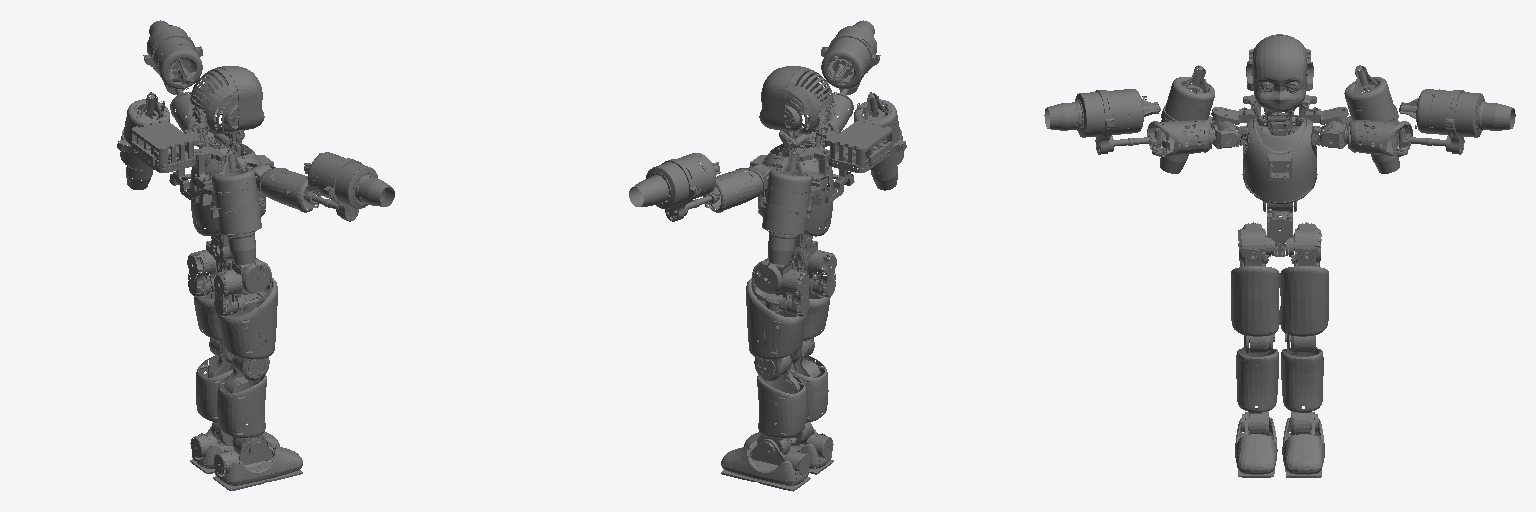
--- What the picture shows (computed from the rendered views, not written in the file) ---
The picture shows the robot from 3 angles, left to right: view 1: azimuth 30°, elevation 25°; view 2: azimuth 150°, elevation 25°; view 3: azimuth 270°, elevation 25°; orthographic projection.
Robot: iCub — 61 links, 60 joints (26 revolute, 34 fixed); root link root_link; default pose: all joints at 0 but 2 set to mid-range because 0 is outside their limits (r_shoulder_roll = 1.53, l_shoulder_roll = 1.53).
Links seen in each view (by area): view 1: chest_jetpack, head, chest_r_jet_turbine, r_lower_leg, r_arm_jet_turbine, r_hip_3, l_arm_jet_turbine, r_ankle_2, chest_l_jet_turbine, l_lower_leg, chest, r_upper_arm (+9 smaller); view 2: chest_jetpack, head, chest_l_jet_turbine, l_lower_leg, l_arm_jet_turbine, l_hip_3, r_arm_jet_turbine, l_ankle_2, chest_r_jet_turbine, r_lower_leg, chest, l_upper_arm (+9 smaller); view 3: chest, head, l_arm_jet_turbine, r_arm_jet_turbine, l_hip_3, r_hip_3, l_lower_leg, r_lower_leg, chest_l_jet_turbine, chest_r_jet_turbine, r_upper_arm, l_upper_arm (+8 smaller).
Link boxes in pixels (x1,y1,x2,y2): chest_jetpack: (131,120,234,205); head: (188,66,264,133); chest_r_jet_turbine: (210,150,264,264); r_lower_leg: (217,355,267,457); r_arm_jet_turbine: (304,152,394,208); r_hip_3: (217,278,277,359); l_arm_jet_turbine: (147,20,202,89); r_ankle_2: (214,440,302,485); chest_l_jet_turbine: (117,92,169,189); l_lower_leg: (196,339,242,445); chest: (190,139,273,235); r_upper_arm: (259,168,318,212); chest_jetpack: (790,120,892,205); head: (759,66,835,133); chest_l_jet_turbine: (759,151,813,264); l_lower_leg: (757,355,806,454); l_arm_jet_turbine: (629,153,720,208); l_hip_3: (746,278,806,359); r_arm_jet_turbine: (821,20,876,88); l_ankle_2: (721,441,809,485); chest_r_jet_turbine: (854,92,906,190); r_lower_leg: (786,339,828,445); chest: (750,139,833,236); l_upper_arm: (705,168,764,212); chest: (1242,115,1317,203); head: (1246,34,1313,111); l_arm_jet_turbine: (1399,89,1515,137); r_arm_jet_turbine: (1044,89,1160,137); l_hip_3: (1280,266,1328,336); r_hip_3: (1231,266,1279,336); l_lower_leg: (1281,335,1323,435); r_lower_leg: (1236,335,1278,435); chest_l_jet_turbine: (1339,65,1399,173); chest_r_jet_turbine: (1160,65,1218,173); r_upper_arm: (1147,119,1212,156); l_upper_arm: (1347,119,1412,156).
Size in the robot's own frame: 0.4689 by 1.29 by 1.24 metres.
Meshes: 41 distinct files referenced, 41 mesh visuals loaded (41 OBJ).

The robot description file, URDF, robot "iCub":
<?xml version="1.0"?>
<robot name="iCub">
  <link name="root_link">
    <inertial>
      <mass value="2.6629877504874604"/>
      <origin xyz="0.0035506047153235866 -1.495920436742083e-4 0.024519005956610603" rpy="0 -0 0"/>
      <inertia ixx="0.004618821158702131" ixy="2.1225922968713773e-6" ixz="1.2101663560375619e-4" iyy="0.0041897728838428076" iyz="1.2411456346931601e-5" izz="0.0026241207587260743"/>
    </inertial>
    <visual>
      <origin xyz="0 0 0" rpy="0 -0 0"/>
      <geometry>
        <mesh filename="package://iRonCub-Mk3/iRonCub/meshes/obj/sim_icub3_root_link.obj" scale="0.001 0.001 0.001"/>
      </geometry>
      <material name="">
        <color rgba="0.5 0.5 0.5 1"/>
      </material>
    </visual>
    <collision>
      <origin xyz="0 0 0" rpy="0 -0 0"/>
      <geometry>
        <mesh filename="package://iRonCub-Mk3/iRonCub/meshes/obj/sim_icub3_root_link.obj" scale="0.001 0.001 0.001"/>
      </geometry>
      <material name="">
        <color rgba="0.5 0.5 0.5 1"/>
      </material>
    </collision>
  </link>
  <joint name="l_hip_pitch" type="revolute">
    <origin xyz="0.021599999999999838 0.0404500000000001 5.551115123125783e-17" rpy="-2.772152493573635e-17 3.287426415778874e-15 -2.9480469897414543e-16"/>
    <axis xyz="2.621035289673297e-16 -1 -2.7721621189479363e-17"/>
    <parent link="root_link"/>
    <child link="l_hip_1"/>
    <limit lower="-0.7853981633974483" upper="2.007128639793479" effort="1e+9" velocity="1e+9"/>
    <dynamics damping="2" friction="0"/>
  </joint>
  <link name="l_hip_1">
    <inertial>
      <mass value="2.2348449454352943"/>
      <origin xyz="-0.004074069440706474 0.028123280846168733 -7.243260242532079e-4" rpy="0 -0 0"/>
      <inertia ixx="0.0021916451360404444" ixy="6.47725598985244e-5" ixz="-1.3159623138316396e-5" iyy="0.0026839116171697534" iyz="-2.8677556023102584e-6" izz="0.0024425758894069567"/>
    </inertial>
    <visual>
      <origin xyz="0 0 0" rpy="0 -0 0"/>
      <geometry>
        <mesh filename="package://iRonCub-Mk3/iRonCub/meshes/obj/sim_icub3_l_hip_1.obj" scale="0.001 0.001 0.001"/>
      </geometry>
      <material name="">
        <color rgba="0.5 0.5 0.5 1"/>
      </material>
    </visual>
    <collision>
      <origin xyz="0 0 0" rpy="0 -0 0"/>
      <geometry>
        <mesh filename="package://iRonCub-Mk3/iRonCub/meshes/obj/sim_icub3_l_hip_1.obj" scale="0.001 0.001 0.001"/>
      </geometry>
      <material name="">
        <color rgba="0.5 0.5 0.5 1"/>
      </material>
    </collision>
  </link>
  <joint name="r_hip_pitch" type="revolute">
    <origin xyz="0.021599999999999755 -0.040549999999999864 1.6653345369377348e-16" rpy="-1.110561606349201e-16 5.28941969589271e-15 8.233098219243898e-17"/>
    <axis xyz="-2.5657452984070894e-16 -1 -1.1105625688866552e-16"/>
    <parent link="root_link"/>
    <child link="r_hip_1"/>
    <limit lower="-0.7853981633974483" upper="2.007128639793479" effort="1e+9" velocity="1e+9"/>
    <dynamics damping="2" friction="0"/>
  </joint>
  <link name="r_hip_1">
    <inertial>
      <mass value="2.236088342871916"/>
      <origin xyz="-0.004106487245625876 -0.028109839642556263 -8.358564041556216e-4" rpy="0 -0 0"/>
      <inertia ixx="0.002274050572883787" ixy="-6.646311453920132e-5" ixz="-1.6231225606391436e-5" iyy="0.002767314809687873" iyz="6.667480643867252e-6" izz="0.0024473940588690597"/>
    </inertial>
    <visual>
      <origin xyz="0 0 0" rpy="0 -0 0"/>
      <geometry>
        <mesh filename="package://iRonCub-Mk3/iRonCub/meshes/obj/sim_icub3_r_hip_1.obj" scale="0.001 0.001 0.001"/>
      </geometry>
      <material name="">
        <color rgba="0.5 0.5 0.5 1"/>
      </material>
    </visual>
    <collision>
      <origin xyz="0 0 0" rpy="0 -0 0"/>
      <geometry>
        <mesh filename="package://iRonCub-Mk3/iRonCub/meshes/obj/sim_icub3_r_hip_1.obj" scale="0.001 0.001 0.001"/>
      </geometry>
      <material name="">
        <color rgba="0.5 0.5 0.5 1"/>
      </material>
    </collision>
  </link>
  <joint name="torso_roll" type="revolute">
    <origin xyz="-3.026147803572561e-17 -4.999999999994841e-5 0.060500000000000054" rpy="-1.3601050333223173e-31 -5.551115123125783e-16 1.0865009219729226e-20"/>
    <axis xyz="-1 1.339518362819463e-16 1.2577495698321518e-15"/>
    <parent link="root_link"/>
    <child link="torso_1"/>
    <limit lower="-0.4014257279586958" upper="0.4014257279586958" effort="1e+9" velocity="1e+9"/>
    <dynamics damping="2" friction="0"/>
  </joint>
  <link name="torso_1">
    <inertial>
      <mass value="1.7568435600410703"/>
      <origin xyz="-0.008004199855839647 3.5130276364068173e-4 0.05194481095906714" rpy="0 -0 0"/>
      <inertia ixx="0.002704001065354341" ixy="-1.132401714304464e-6" ixz="-3.328239693456031e-4" iyy="0.0035179814878016314" iyz="4.672304187426514e-6" izz="0.0021296132468488324"/>
    </inertial>
    <visual>
      <origin xyz="0 0 0" rpy="0 -0 0"/>
      <geometry>
        <mesh filename="package://iRonCub-Mk3/iRonCub/meshes/obj/sim_icub3_torso_1.obj" scale="0.001 0.001 0.001"/>
      </geometry>
      <material name="">
        <color rgba="0.5 0.5 0.5 1"/>
      </material>
    </visual>
    <collision>
      <origin xyz="0 0 0" rpy="0 -0 0"/>
      <geometry>
        <mesh filename="package://iRonCub-Mk3/iRonCub/meshes/obj/sim_icub3_torso_1.obj" scale="0.001 0.001 0.001"/>
      </geometry>
      <material name="">
        <color rgba="0.5 0.5 0.5 1"/>
      </material>
    </collision>
  </link>
  <joint name="torso_pitch" type="revolute">
    <origin xyz="-6.67283601706106e-18 4.999999999996938e-5 0.07250000000000004" rpy="1.1102239871625957e-16 -3.3306690738754686e-16 -2.4501412044503564e-16"/>
    <axis xyz="-1.1102155323940791e-16 1 5.872997965345691e-16"/>
    <parent link="torso_1"/>
    <child link="torso_2"/>
    <limit lower="-0.3141592653589793" upper="0.7853981633974483" effort="1e+9" velocity="1e+9"/>
    <dynamics damping="2" friction="0"/>
  </joint>
  <link name="torso_2">
    <inertial>
      <mass value="0.7973007881979116"/>
      <origin xyz="0.0013193526698886456 0.0033219209736745463 0.026808073537901152" rpy="0 -0 0"/>
      <inertia ixx="0.0015101133308138724" ixy="3.6652548120564313e-6" ixz="-1.1177457987947623e-5" iyy="8.38212922542086e-4" iyz="7.46112208314757e-5" izz="0.001252038772346624"/>
    </inertial>
    <visual>
      <origin xyz="0 0 0" rpy="0 -0 0"/>
      <geometry>
        <mesh filename="package://iRonCub-Mk3/iRonCub/meshes/obj/sim_icub3_torso_2.obj" scale="0.001 0.001 0.001"/>
      </geometry>
      <material name="">
        <color rgba="0.5 0.5 0.5 1"/>
      </material>
    </visual>
    <collision>
      <origin xyz="0 0 0" rpy="0 -0 0"/>
      <geometry>
        <mesh filename="package://iRonCub-Mk3/iRonCub/meshes/obj/sim_icub3_torso_2.obj" scale="0.001 0.001 0.001"/>
      </geometry>
      <material name="">
        <color rgba="0.5 0.5 0.5 1"/>
      </material>
    </collision>
  </link>
  <joint name="torso_yaw" type="revolute">
    <origin xyz="2.1594264454155578e-17 5.885646208236616e-20 0.06446999999999999" rpy="-1.2321137764617832e-22 -1.1102242644158516e-16 -1.1102291848647704e-16"/>
    <axis xyz="-1.1101976037066927e-16 -5.988494954094898e-22 -1"/>
    <parent link="torso_2"/>
    <child link="chest"/>
    <limit lower="-0.7504915783575618" upper="0.7504915783575618" effort="1e+9" velocity="1e+9"/>
    <dynamics damping="2" friction="0"/>
  </joint>
  <link name="chest">
    <inertial>
      <mass value="7.3512"/>
      <origin xyz="-0.0122642676781385 -2.0913721363379232e-4 0.06226272346884485" rpy="0 -0 0"/>
      <inertia ixx="0.035385363760700186" ixy="1.013992893017689e-4" ixz="-3.314932732026085e-5" iyy="0.029180876419389323" iyz="-1.1584760630466694e-4" izz="0.026523881613475565"/>
    </inertial>
    <visual>
      <origin xyz="0 0 0" rpy="0 -0 0"/>
      <geometry>
        <mesh filename="package://iRonCub-Mk3/iRonCub/meshes/obj/sim_icub3_chest.obj" scale="0.001 0.001 0.001"/>
      </geometry>
      <material name="">
        <color rgba="0.5 0.5 0.5 1"/>
      </material>
    </visual>
    <collision>
      <origin xyz="0 0 0" rpy="0 -0 0"/>
      <geometry>
        <mesh filename="package://iRonCub-Mk3/iRonCub/meshes/obj/sim_icub3_chest.obj" scale="0.001 0.001 0.001"/>
      </geometry>
      <material name="">
        <color rgba="0.5 0.5 0.5 1"/>
      </material>
    </collision>
  </link>
  <joint name="neck_fixed_joint" type="fixed">
    <origin xyz="-0.0037884876520276793 1.1965149394276545e-19 0.1653" rpy="9.625374400280887e-23 -1.2324731707866316e-32 0"/>
    <parent link="chest"/>
    <child link="neck_1"/>
  </joint>
  <link name="neck_1">
    <inertial>
      <mass value="0.36603901400113703"/>
      <origin xyz="-0.0020740120862148275 3.5078633042914743e-4 0.031440537702076166" rpy="0 -0 0"/>
      <inertia ixx="2.874394158609982e-4" ixy="1.4976245677733992e-5" ixz="-5.678672052682316e-6" iyy="1.779437729417396e-4" iyz="-8.84609090159286e-6" izz="2.707162209259165e-4"/>
    </inertial>
    <visual>
      <origin xyz="0 0 0" rpy="0 -0 0"/>
      <geometry>
        <mesh filename="package://iRonCub-Mk3/iRonCub/meshes/obj/sim_head_neck_1.obj" scale="0.001 0.001 0.001"/>
      </geometry>
      <material name="">
        <color rgba="0.5 0.5 0.5 1"/>
      </material>
    </visual>
    <collision>
      <origin xyz="0 0 0" rpy="0 -0 0"/>
      <geometry>
        <mesh filename="package://iRonCub-Mk3/iRonCub/meshes/obj/sim_head_neck_1.obj" scale="0.001 0.001 0.001"/>
      </geometry>
      <material name="">
        <color rgba="0.5 0.5 0.5 1"/>
      </material>
    </collision>
  </link>
  <joint name="l_shoulder_pitch" type="revolute">
    <origin xyz="-0.020835110809513314 0.03974230787756868 0.10520337684251443" rpy="0.2532615634587303 1.1174434452692061e-10 -0.2617993877702263"/>
    <axis xyz="1.263954599823144e-16 1.0000000000000002 8.326672684688674e-17"/>
    <parent link="chest"/>
    <child link="l_shoulder_1"/>
    <limit lower="-3.0543261909900767" upper="0.3490658503988659" effort="1e+9" velocity="1e+9"/>
    <dynamics damping="2" friction="0"/>
  </joint>
  <link name="l_shoulder_1">
    <inertial>
      <mass value="0.8132882020978611"/>
      <origin xyz="1.6763217616769938e-4 0.08722563487559233 4.5089836424971885e-4" rpy="0 -0 0"/>
      <inertia ixx="0.01" ixy="0" ixz="0" iyy="0.01" iyz="0" izz="0.01"/>
    </inertial>
    <visual>
      <origin xyz="0 0 0" rpy="0 -0 0"/>
      <geometry>
        <mesh filename="package://iRonCub-Mk3/iRonCub/meshes/obj/sim_icub3_l_shoulder_1.obj" scale="0.001 0.001 0.001"/>
      </geometry>
      <material name="">
        <color rgba="0.5 0.5 0.5 1"/>
      </material>
    </visual>
    <collision>
      <origin xyz="0 0 0" rpy="0 -0 0"/>
      <geometry>
        <mesh filename="package://iRonCub-Mk3/iRonCub/meshes/obj/sim_icub3_l_shoulder_1.obj" scale="0.001 0.001 0.001"/>
      </geometry>
      <material name="">
        <color rgba="0.5 0.5 0.5 1"/>
      </material>
    </collision>
  </link>
  <joint name="r_shoulder_pitch" type="revolute">
    <origin xyz="-0.020835110809513314 -0.039742307877568765 0.10520337684251439" rpy="-0.2532615634587295 -1.8146566163866544e-16 0.2617993877991491"/>
    <axis xyz="9.330933250829091e-17 1.0000000000000002 -1.3877787807814457e-16"/>
    <parent link="chest"/>
    <child link="r_shoulder_1"/>
    <limit lower="-3.0543261909900767" upper="0.3490658503988659" effort="1e+9" velocity="1e+9"/>
    <dynamics damping="2" friction="0"/>
  </joint>
  <link name="r_shoulder_1">
    <inertial>
      <mass value="0.813839698711106"/>
      <origin xyz="1.6751126444148473e-4 -0.08721732535454527 4.507358666717004e-4" rpy="0 -0 0"/>
      <inertia ixx="0.009999999999999998" ixy="0" ixz="0" iyy="0.01" iyz="0" izz="0.009999999999999998"/>
    </inertial>
    <visual>
      <origin xyz="0 0 0" rpy="0 -0 0"/>
      <geometry>
        <mesh filename="package://iRonCub-Mk3/iRonCub/meshes/obj/sim_icub3_r_shoulder_1.obj" scale="0.001 0.001 0.001"/>
      </geometry>
      <material name="">
        <color rgba="0.5 0.5 0.5 1"/>
      </material>
    </visual>
    <collision>
      <origin xyz="0 0 0" rpy="0 -0 0"/>
      <geometry>
        <mesh filename="package://iRonCub-Mk3/iRonCub/meshes/obj/sim_icub3_r_shoulder_1.obj" scale="0.001 0.001 0.001"/>
      </geometry>
      <material name="">
        <color rgba="0.5 0.5 0.5 1"/>
      </material>
    </collision>
  </link>
  <joint name="jetpack" type="fixed">
    <origin xyz="-0.14499 -1.2999999999999988e-4 0.14541848765202772" rpy="1.2324731707866316e-32 9.625374400280887e-23 -1.5707963267948966"/>
    <parent link="chest"/>
    <child link="chest_jetpack"/>
  </joint>
  <link name="chest_jetpack">
    <inertial>
      <mass value="4.53"/>
      <origin xyz="-2.7239450875089056e-5 -0.0183358897647658 0.03425005290417793" rpy="0 -0 0"/>
      <inertia ixx="0.03167862147049015" ixy="2.2387098838732457e-5" ixz="-1.8898492015038172e-5" iyy="0.04284692384150374" iyz="0.009152748442320655" izz="0.04386588919109599"/>
    </inertial>
    <visual>
      <origin xyz="0 0 0" rpy="0 -0 0"/>
      <geometry>
        <mesh filename="package://iRonCub-Mk3/iRonCub/meshes/obj/sim_sea_3_jetpack.obj" scale="0.001 0.001 0.001"/>
      </geometry>
      <material name="">
        <color rgba="0.5 0.5 0.5 1"/>
      </material>
    </visual>
    <collision>
      <origin xyz="0 0 0" rpy="0 -0 0"/>
      <geometry>
        <mesh filename="package://iRonCub-Mk3/iRonCub/meshes/obj/sim_sea_3_jetpack.obj" scale="0.001 0.001 0.001"/>
      </geometry>
      <material name="">
        <color rgba="0.5 0.5 0.5 1"/>
      </material>
    </collision>
  </link>
  <joint name="l_jet_ft_sensor" type="fixed">
    <origin xyz="-0.29983115371327507 0.015279475722973251 -0.17995519310613678" rpy="-2.879793265790644 -4.1835689553950905e-16 1.5707963267948966"/>
    <parent link="chest_jetpack"/>
    <child link="chest_l_jet_turbine"/>
  </joint>
  <link name="chest_l_jet_turbine">
    <inertial>
      <mass value="2.485121044142475"/>
      <origin xyz="-1.2021870482992192e-6 0.006989391668813405 -0.15859756054561458" rpy="0 -0 0"/>
      <inertia ixx="0.00995696120949495" ixy="9.121988679390884e-6" ixz="1.2765757408929822e-5" iyy="0.008873133869822553" iyz="-1.3408250367438063e-5" izz="0.0050950352814347205"/>
    </inertial>
    <visual>
      <origin xyz="0 0 0" rpy="0 -0 0"/>
      <geometry>
        <mesh filename="package://iRonCub-Mk3/iRonCub/meshes/obj/sim_sea_l_jet_turbine.obj" scale="0.001 0.001 0.001"/>
      </geometry>
      <material name="">
        <color rgba="0.5 0.5 0.5 1"/>
      </material>
    </visual>
    <collision>
      <origin xyz="0 0 0" rpy="0 -0 0"/>
      <geometry>
        <mesh filename="package://iRonCub-Mk3/iRonCub/meshes/obj/sim_sea_l_jet_turbine.obj" scale="0.001 0.001 0.001"/>
      </geometry>
      <material name="">
        <color rgba="0.5 0.5 0.5 1"/>
      </material>
    </collision>
  </link>
  <joint name="r_jet_ft_sensor" type="fixed">
    <origin xyz="0.3000540611713717 0.015279475722925928 -0.17982579844272073" rpy="2.879793265790644 -3.494213743063994e-16 1.5707963267948968"/>
    <parent link="chest_jetpack"/>
    <child link="chest_r_jet_turbine"/>
  </joint>
  <link name="chest_r_jet_turbine">
    <inertial>
      <mass value="2.485121044142475"/>
      <origin xyz="-1.202982383791129e-6 -0.007176625110538154 -0.15859756054561458" rpy="0 -0 0"/>
      <inertia ixx="0.009967969905614368" ixy="-1.0264559868435775e-6" ixz="1.2765689314859367e-5" iyy="0.008873133870962072" iyz="1.1248737016987531e-5" izz="0.005106043978693606"/>
    </inertial>
    <visual>
      <origin xyz="0 0 0" rpy="0 -0 0"/>
      <geometry>
        <mesh filename="package://iRonCub-Mk3/iRonCub/meshes/obj/sim_sea_r_jet_turbine.obj" scale="0.001 0.001 0.001"/>
      </geometry>
      <material name="">
        <color rgba="0.5 0.5 0.5 1"/>
      </material>
    </visual>
    <collision>
      <origin xyz="0 0 0" rpy="0 -0 0"/>
      <geometry>
        <mesh filename="package://iRonCub-Mk3/iRonCub/meshes/obj/sim_sea_r_jet_turbine.obj" scale="0.001 0.001 0.001"/>
      </geometry>
      <material name="">
        <color rgba="0.5 0.5 0.5 1"/>
      </material>
    </collision>
  </link>
  <joint name="r_shoulder_roll" type="revolute">
    <origin xyz="0.007489169544993426 -0.1115000000000005 4.029137951449893e-4" rpy="0.17453292519940572 -0.05374771349722806 -3.796894575208941e-14"/>
    <axis xyz="-1.0000000000000002 -1.2906342661267445e-15 -1.3322676295501878e-15"/>
    <parent link="r_shoulder_1"/>
    <child link="r_shoulder_2"/>
    <limit lower="0.20943951023931956" upper="2.8448866807507573" effort="1e+9" velocity="1e+9"/>
    <dynamics damping="2" friction="0"/>
  </joint>
  <link name="r_shoulder_2">
    <inertial>
      <mass value="0.4394303347087956"/>
      <origin xyz="0.00510875359504365 -2.132499365749274e-4 -0.02040339841293008" rpy="0 -0 0"/>
      <inertia ixx="0.01" ixy="0" ixz="0" iyy="0.01" iyz="0" izz="0.01"/>
    </inertial>
    <visual>
      <origin xyz="0 0 0" rpy="0 -0 0"/>
      <geometry>
        <mesh filename="package://iRonCub-Mk3/iRonCub/meshes/obj/sim_icub3_r_shoulder_2.obj" scale="0.001 0.001 0.001"/>
      </geometry>
      <material name="">
        <color rgba="0.5 0.5 0.5 1"/>
      </material>
    </visual>
    <collision>
      <origin xyz="0 0 0" rpy="0 -0 0"/>
      <geometry>
        <mesh filename="package://iRonCub-Mk3/iRonCub/meshes/obj/sim_icub3_r_shoulder_2.obj" scale="0.001 0.001 0.001"/>
      </geometry>
      <material name="">
        <color rgba="0.5 0.5 0.5 1"/>
      </material>
    </collision>
  </link>
  <joint name="r_arm_ft_sensor" type="fixed">
    <origin xyz="-0.0068499999999999985 0 -0.05429999999999999" rpy="-7.632783294297952e-17 -2.8449465006019636e-16 1.77635683940025e-15"/>
    <parent link="r_shoulder_2"/>
    <child link="r_shoulder_3"/>
  </joint>
  <link name="r_shoulder_3">
    <inertial>
      <mass value="0.27146627275996604"/>
      <origin xyz="-8.311677995866476e-5 -3.0654831449872244e-5 -0.007966545320293922" rpy="0 -0 0"/>
      <inertia ixx="0.01" ixy="0" ixz="0" iyy="0.01" iyz="0" izz="0.01"/>
    </inertial>
    <visual>
      <origin xyz="0 0 0" rpy="0 -0 0"/>
      <geometry>
        <mesh filename="package://iRonCub-Mk3/iRonCub/meshes/obj/sim_icub3_r_shoulder_3.obj" scale="0.001 0.001 0.001"/>
      </geometry>
      <material name="">
        <color rgba="0.5 0.5 0.5 1"/>
      </material>
    </visual>
    <collision>
      <origin xyz="0 0 0" rpy="0 -0 0"/>
      <geometry>
        <mesh filename="package://iRonCub-Mk3/iRonCub/meshes/obj/sim_icub3_r_shoulder_3.obj" scale="0.001 0.001 0.001"/>
      </geometry>
      <material name="">
        <color rgba="0.5 0.5 0.5 1"/>
      </material>
    </collision>
  </link>
  <joint name="r_shoulder_yaw" type="revolute">
    <origin xyz="-2.0816681711721685e-17 2.220446049250313e-16 -0.022500000000000034" rpy="-1.2712053631958017e-14 -6.501743587961073e-15 8.382183835919908e-15"/>
    <axis xyz="6.349087922075112e-15 -1.2850831510036185e-14 1.000000000000002"/>
    <parent link="r_shoulder_3"/>
    <child link="r_upper_arm"/>
    <limit lower="-0.8726646259971648" upper="1.3962634015954636" effort="1e+9" velocity="1e+9"/>
    <dynamics damping="2" friction="0"/>
  </joint>
  <link name="r_upper_arm">
    <inertial>
      <mass value="1.6772906895585853"/>
      <origin xyz="0.0010477411494388446 -0.0025592471121872735 -0.050652982369893636" rpy="0 -0 0"/>
      <inertia ixx="0.0029869197761717373" ixy="1.9760838161733013e-5" ixz="7.516752031618085e-5" iyy="0.003091158059685315" iyz="-1.155261578180163e-4" izz="0.001285657073633261"/>
    </inertial>
    <visual>
      <origin xyz="0 0 0" rpy="0 -0 0"/>
      <geometry>
        <mesh filename="package://iRonCub-Mk3/iRonCub/meshes/obj/sim_icub3_r_upperarm.obj" scale="0.001 0.001 0.001"/>
      </geometry>
      <material name="">
        <color rgba="0.5 0.5 0.5 1"/>
      </material>
    </visual>
    <collision>
      <origin xyz="0 0 0" rpy="0 -0 0"/>
      <geometry>
        <mesh filename="package://iRonCub-Mk3/iRonCub/meshes/obj/sim_icub3_r_upperarm.obj" scale="0.001 0.001 0.001"/>
      </geometry>
      <material name="">
        <color rgba="0.5 0.5 0.5 1"/>
      </material>
    </collision>
  </link>
  <joint name="r_elbow" type="revolute">
    <origin xyz="0.00999999999999937 0.0015000000000010838 -0.12369999999999985" rpy="-1.3211653993039333e-14 1.214306433183765e-16 -8.104628079763618e-15"/>
    <axis xyz="1.287164819174785e-15 -1.0000000000000024 9.38832345198644e-15"/>
    <parent link="r_upper_arm"/>
    <child link="r_elbow_1"/>
    <limit lower="-0.05235987755982989" upper="1.3089969389957472" effort="1e+9" velocity="1e+9"/>
    <dynamics damping="2" friction="0"/>
  </joint>
  <link name="r_elbow_1">
    <inertial>
      <mass value="0.83"/>
      <origin xyz="-0.013603053872079232 -0.02226045303391494 -0.10863395029513051" rpy="0 -0 0"/>
      <inertia ixx="0.01" ixy="0" ixz="0" iyy="0.01" iyz="0" izz="0.01"/>
    </inertial>
    <visual>
      <origin xyz="0 0 0" rpy="0 -0 0"/>
      <geometry>
        <mesh filename="package://iRonCub-Mk3/iRonCub/meshes/obj/sim_icub3_r_elbow_prosup.obj" scale="0.001 0.001 0.001"/>
      </geometry>
      <material name="">
        <color rgba="0.5 0.5 0.5 1"/>
      </material>
    </visual>
    <collision>
      <origin xyz="0 0 0" rpy="0 -0 0"/>
      <geometry>
        <mesh filename="package://iRonCub-Mk3/iRonCub/meshes/obj/sim_icub3_r_elbow_prosup.obj" scale="0.001 0.001 0.001"/>
      </geometry>
      <material name="">
        <color rgba="0.5 0.5 0.5 1"/>
      </material>
    </collision>
  </link>
  <joint name="r_elbow_turbine" type="fixed">
    <origin xyz="-0.014925050442282123 -0.09227960464730806 -0.312001522804658" rpy="-3.14159265358979 1.1900203045200897e-14 -1.308996938995748"/>
    <parent link="r_elbow_1"/>
    <child link="r_arm_jet_turbine"/>
  </joint>
  <link name="r_arm_jet_turbine">
    <inertial>
      <mass value="2.1150000034532423"/>
      <origin xyz="4.92446747412667e-5 -6.625496324369484e-5 -0.15870231656106432" rpy="0 -0 0"/>
      <inertia ixx="0.008237099476525477" ixy="4.0675330356338205e-6" ixz="1.269067681845511e-5" iyy="0.00823782510793148" iyz="-1.1204606768599025e-6" izz="0.0027762889100932035"/>
    </inertial>
    <visual>
      <origin xyz="0 0 0" rpy="0 -0 0"/>
      <geometry>
        <mesh filename="package://iRonCub-Mk3/iRonCub/meshes/obj/sim_sea_r_arm_p250.obj" scale="0.001 0.001 0.001"/>
      </geometry>
      <material name="">
        <color rgba="0.5 0.5 0.5 1"/>
      </material>
    </visual>
    <collision>
      <origin xyz="0 0 0" rpy="0 -0 0"/>
      <geometry>
        <mesh filename="package://iRonCub-Mk3/iRonCub/meshes/obj/sim_sea_r_arm_p250.obj" scale="0.001 0.001 0.001"/>
      </geometry>
      <material name="">
        <color rgba="0.5 0.5 0.5 1"/>
      </material>
    </collision>
  </link>
  <joint name="l_shoulder_roll" type="revolute">
    <origin xyz="0.004992779696632584 0.11149999999999995 2.6860919733985925e-4" rpy="-0.17453292519939406 -0.05374771361267909 -3.946991432525758e-15"/>
    <axis xyz="1 2.0043905771260917e-11 -1.136720509387068e-10"/>
    <parent link="l_shoulder_1"/>
    <child link="l_shoulder_2"/>
    <limit lower="0.20943951023931956" upper="2.8448866807507573" effort="1e+9" velocity="1e+9"/>
    <dynamics damping="2" friction="0"/>
  </joint>
  <link name="l_shoulder_2">
    <inertial>
      <mass value="0.4394303347087956"/>
      <origin xyz="0.007668876852690326 1.879124475731575e-4 -0.020403398412930034" rpy="0 -0 0"/>
      <inertia ixx="0.01" ixy="0" ixz="0" iyy="0.01" iyz="0" izz="0.01"/>
    </inertial>
    <visual>
      <origin xyz="0 0 0" rpy="0 -0 0"/>
      <geometry>
        <mesh filename="package://iRonCub-Mk3/iRonCub/meshes/obj/sim_icub3_l_shoulder_2.obj" scale="0.001 0.001 0.001"/>
      </geometry>
      <material name="">
        <color rgba="0.5 0.5 0.5 1"/>
      </material>
    </visual>
    <collision>
      <origin xyz="0 0 0" rpy="0 -0 0"/>
      <geometry>
        <mesh filename="package://iRonCub-Mk3/iRonCub/meshes/obj/sim_icub3_l_shoulder_2.obj" scale="0.001 0.001 0.001"/>
      </geometry>
      <material name="">
        <color rgba="0.5 0.5 0.5 1"/>
      </material>
    </collision>
  </link>
  <joint name="l_arm_ft_sensor" type="fixed">
    <origin xyz="-0.004349999999999996 0 -0.05430000000000005" rpy="2.289834988289385e-16 4.163336342344337e-17 1.5543122344752186e-15"/>
    <parent link="l_shoulder_2"/>
    <child link="l_shoulder_3"/>
  </joint>
  <link name="l_shoulder_3">
    <inertial>
      <mass value="0.27146627275996604"/>
      <origin xyz="-9.556659554113903e-5 3.065483169495398e-5 -0.00796654532029388" rpy="0 -0 0"/>
      <inertia ixx="0.01" ixy="0" ixz="0" iyy="0.01" iyz="0" izz="0.01"/>
    </inertial>
    <visual>
      <origin xyz="0 0 0" rpy="0 -0 0"/>
      <geometry>
        <mesh filename="package://iRonCub-Mk3/iRonCub/meshes/obj/sim_icub3_l_shoulder_3.obj" scale="0.001 0.001 0.001"/>
      </geometry>
      <material name="">
        <color rgba="0.5 0.5 0.5 1"/>
      </material>
    </visual>
    <collision>
      <origin xyz="0 0 0" rpy="0 -0 0"/>
      <geometry>
        <mesh filename="package://iRonCub-Mk3/iRonCub/meshes/obj/sim_icub3_l_shoulder_3.obj" scale="0.001 0.001 0.001"/>
      </geometry>
      <material name="">
        <color rgba="0.5 0.5 0.5 1"/>
      </material>
    </collision>
  </link>
  <joint name="l_shoulder_yaw" type="revolute">
    <origin xyz="-8.730103445708792e-12 1.2906342661267445e-14 -0.022500000000073808" rpy="-3.3376079677793843e-15 1.136428277870305e-10 2.0049850668613138e-11"/>
    <axis xyz="1.1364286248150002e-10 3.3098523921630526e-15 -0.9999999999999978"/>
    <parent link="l_shoulder_3"/>
    <child link="l_upper_arm"/>
    <limit lower="-0.8726646259971648" upper="1.3962634015954636" effort="1e+9" velocity="1e+9"/>
    <dynamics damping="2" friction="0"/>
  </joint>
  <link name="l_upper_arm">
    <inertial>
      <mass value="1.6755955548988626"/>
      <origin xyz="0.0010548346434496522 0.0024662548452177857 -0.050596864463127444" rpy="0 -0 0"/>
      <inertia ixx="0.002989089988120242" ixy="-2.1310259457166117e-5" ixz="7.691929278267632e-5" iyy="0.0030866449653698886" iyz="1.064905905893311e-4" izz="0.0012925055872225403"/>
    </inertial>
    <visual>
      <origin xyz="0 0 0" rpy="0 -0 0"/>
      <geometry>
        <mesh filename="package://iRonCub-Mk3/iRonCub/meshes/obj/sim_icub3_l_upperarm.obj" scale="0.001 0.001 0.001"/>
      </geometry>
      <material name="">
        <color rgba="0.5 0.5 0.5 1"/>
      </material>
    </visual>
    <collision>
      <origin xyz="0 0 0" rpy="0 -0 0"/>
      <geometry>
        <mesh filename="package://iRonCub-Mk3/iRonCub/meshes/obj/sim_icub3_l_upperarm.obj" scale="0.001 0.001 0.001"/>
      </geometry>
      <material name="">
        <color rgba="0.5 0.5 0.5 1"/>
      </material>
    </collision>
  </link>
  <joint name="l_elbow" type="revolute">
    <origin xyz="0.009999999999996283 -0.0014999999999997793 -0.12369999999999949" rpy="-2.9212743335449495e-15 1.0057696342435918e-10 -8.215650382226179e-15"/>
    <axis xyz="2.1285057046745952e-15 -0.9999999999999974 4.024558463653784e-15"/>
    <parent link="l_upper_arm"/>
    <child link="l_elbow_1"/>
    <limit lower="-0.05235987755982989" upper="1.3089969389957472" effort="1e+9" velocity="1e+9"/>
    <dynamics damping="2" friction="0"/>
  </joint>
  <link name="l_elbow_1">
    <inertial>
      <mass value="0.837"/>
      <origin xyz="-0.013599522111457504 0.02224577873432515 -0.10856865298483542" rpy="0 -0 0"/>
      <inertia ixx="0.01" ixy="0" ixz="0" iyy="0.010000000000000002" iyz="0" izz="0.01"/>
    </inertial>
    <visual>
      <origin xyz="0 0 0" rpy="0 -0 0"/>
      <geometry>
        <mesh filename="package://iRonCub-Mk3/iRonCub/meshes/obj/sim_icub3_l_elbow_prosup.obj" scale="0.001 0.001 0.001"/>
      </geometry>
      <material name="">
        <color rgba="0.5 0.5 0.5 1"/>
      </material>
    </visual>
    <collision>
      <origin xyz="0 0 0" rpy="0 -0 0"/>
      <geometry>
        <mesh filename="package://iRonCub-Mk3/iRonCub/meshes/obj/sim_icub3_l_elbow_prosup.obj" scale="0.001 0.001 0.001"/>
      </geometry>
      <material name="">
        <color rgba="0.5 0.5 0.5 1"/>
      </material>
    </collision>
  </link>
  <joint name="l_elbow_turbine" type="fixed">
    <origin xyz="-0.014999971294355915 0.09171052427705503 -0.31200152280465554" rpy="3.141592653589783 1.3461454173580023e-14 -1.5707963267949192"/>
    <parent link="l_elbow_1"/>
    <child link="l_arm_jet_turbine"/>
  </joint>
  <link name="l_arm_jet_turbine">
    <inertial>
      <mass value="2.1150000034532423"/>
      <origin xyz="4.924467474098915e-5 -6.625496324388913e-5 -0.15870231656106382" rpy="0 -0 0"/>
      <inertia ixx="0.008237099476525386" ixy="4.067533035608667e-6" ixz="1.2690676818385939e-5" iyy="0.00823782510793146" iyz="-1.1204606768582762e-6" izz="0.002776288910093314"/>
    </inertial>
    <visual>
      <origin xyz="0 0 0" rpy="0 -0 0"/>
      <geometry>
        <mesh filename="package://iRonCub-Mk3/iRonCub/meshes/obj/sim_sea_l_arm_p250.obj" scale="0.001 0.001 0.001"/>
      </geometry>
      <material name="">
        <color rgba="0.5 0.5 0.5 1"/>
      </material>
    </visual>
    <collision>
      <origin xyz="0 0 0" rpy="0 -0 0"/>
      <geometry>
        <mesh filename="package://iRonCub-Mk3/iRonCub/meshes/obj/sim_sea_l_arm_p250.obj" scale="0.001 0.001 0.001"/>
      </geometry>
      <material name="">
        <color rgba="0.5 0.5 0.5 1"/>
      </material>
    </collision>
  </link>
  <joint name="neck_pitch" type="revolute">
    <origin xyz="0.008650000000000001 1.6878364870223099e-6 0.049000000000000016" rpy="2.2204460492503082e-16 6.217249061879946e-15 1.8981965531880597e-30"/>
    <axis xyz="8.725115797153111e-32 -1 -9.730044485478919e-17"/>
    <parent link="neck_1"/>
    <child link="neck_2"/>
    <limit lower="-0.5235987755982988" upper="0.3839724354387525" effort="1e+9" velocity="1e+9"/>
    <dynamics damping="2" friction="0"/>
  </joint>
  <link name="neck_2">
    <inertial>
      <mass value="0.12554863591935564"/>
      <origin xyz="-0.006375600971249117 3.6309318120735294e-5 0.006597619464620752" rpy="0 -0 0"/>
      <inertia ixx="4.74184174153568e-5" ixy="-9.99576304411619e-8" ixz="9.392992936400923e-6" iyy="4.056869190094087e-5" iyz="5.8960139089129976e-8" izz="3.8662828755239135e-5"/>
    </inertial>
    <visual>
      <origin xyz="0 0 0" rpy="0 -0 0"/>
      <geometry>
        <mesh filename="package://iRonCub-Mk3/iRonCub/meshes/obj/sim_head_neck_2.obj" scale="0.001 0.001 0.001"/>
      </geometry>
      <material name="">
        <color rgba="0.5 0.5 0.5 1"/>
      </material>
    </visual>
    <collision>
      <origin xyz="0 0 0" rpy="0 -0 0"/>
      <geometry>
        <mesh filename="package://iRonCub-Mk3/iRonCub/meshes/obj/sim_head_neck_2.obj" scale="0.001 0.001 0.001"/>
      </geometry>
      <material name="">
        <color rgba="0.5 0.5 0.5 1"/>
      </material>
    </collision>
  </link>
  <joint name="neck_roll" type="revolute">
    <origin xyz="1.734723475976807e-18 5.389247126905486e-18 0.00950000000000005" rpy="7.143872767384513e-16 -3.33066907387547e-16 -1.1102230246251556e-16"/>
    <axis xyz="1 -1.1438332919722405e-17 -3.3306690738754676e-16"/>
    <parent link="neck_2"/>
    <child link="neck_3"/>
    <limit lower="-0.3490658503988659" upper="0.3490658503988659" effort="1e+9" velocity="1e+9"/>
    <dynamics damping="2" friction="0"/>
  </joint>
  <link name="neck_3">
    <inertial>
      <mass value="0.19013309992818875"/>
      <origin xyz="0.001265402264172368 -8.218822143861296e-5 0.03610933685405018" rpy="0 -0 0"/>
      <inertia ixx="1.1070277075925195e-4" ixy="3.723051703316207e-7" ixz="1.0316180753871673e-5" iyy="1.237711284683706e-4" iyz="-5.418855164604395e-7" izz="4.128068824031633e-5"/>
    </inertial>
    <visual>
      <origin xyz="0 0 0" rpy="0 -0 0"/>
      <geometry>
        <mesh filename="package://iRonCub-Mk3/iRonCub/meshes/obj/sim_head_neck_3.obj" scale="0.001 0.001 0.001"/>
      </geometry>
      <material name="">
        <color rgba="0.5 0.5 0.5 1"/>
      </material>
    </visual>
    <collision>
      <origin xyz="0 0 0" rpy="0 -0 0"/>
      <geometry>
        <mesh filename="package://iRonCub-Mk3/iRonCub/meshes/obj/sim_head_neck_3.obj" scale="0.001 0.001 0.001"/>
      </geometry>
      <material name="">
        <color rgba="0.5 0.5 0.5 1"/>
      </material>
    </collision>
  </link>
  <joint name="neck_yaw" type="revolute">
    <origin xyz="-8.673617379884035e-19 4.965942411515149e-18 0.06914999999999992" rpy="-7.514452136555288e-16 -9.159339953157524e-16 3.4450928483976655e-16"/>
    <axis xyz="9.159339953157524e-16 -7.514452136555287e-16 0.9999999999999999"/>
    <parent link="neck_3"/>
    <child link="head"/>
    <limit lower="-0.7853981633974483" upper="0.7853981633974483" effort="1e+9" velocity="1e+9"/>
    <dynamics damping="2" friction="0"/>
  </joint>
  <link name="head">
    <inertial>
      <mass value="1.492979865988926"/>
      <origin xyz="-0.0010717321288527294 -0.002581852571624899 0.021357021858803255" rpy="0 -0 0"/>
      <inertia ixx="0.004525255660901079" ixy="2.0173563472947957e-4" ixz="-2.6715191506428566e-4" iyy="0.007528802171092508" iyz="1.052956946869648e-4" izz="0.007326386290126885"/>
    </inertial>
    <visual>
      <origin xyz="0 0 0" rpy="0 -0 0"/>
      <geometry>
        <mesh filename="package://iRonCub-Mk3/iRonCub/meshes/obj/sim_head_head.obj" scale="0.001 0.001 0.001"/>
      </geometry>
      <material name="">
        <color rgba="0.5 0.5 0.5 1"/>
      </material>
    </visual>
    <collision>
      <origin xyz="0 0 0" rpy="0 -0 0"/>
      <geometry>
        <mesh filename="package://iRonCub-Mk3/iRonCub/meshes/obj/sim_head_head.obj" scale="0.001 0.001 0.001"/>
      </geometry>
      <material name="">
        <color rgba="0.5 0.5 0.5 1"/>
      </material>
    </collision>
  </link>
  <joint name="r_hip_roll" type="revolute">
    <origin xyz="-0.04729999999999998 -0.03309999999999986 -0.009000000000000064" rpy="7.216449660063586e-16 2.686997451646527e-31 -2.7468378994038928e-15"/>
    <axis xyz="-1 1.2968929435325477e-16 2.1190202345730036e-15"/>
    <parent link="r_hip_1"/>
    <child link="r_hip_2"/>
    <limit lower="-0.17453292519943295" upper="1.9547687622336491" effort="1e+9" velocity="1e+9"/>
    <dynamics damping="2" friction="0"/>
  </joint>
  <link name="r_hip_2">
    <inertial>
      <mass value="1.833614649998661"/>
      <origin xyz="-0.003963452708457164 -7.011349050914384e-5 -0.03753475266778922" rpy="0 -0 0"/>
      <inertia ixx="0.0030671505582571274" ixy="-4.786192991358219e-6" ixz="9.790337810980146e-4" iyy="0.005407658251894156" iyz="3.3750052721298247e-6" izz="0.003388232477858492"/>
    </inertial>
    <visual>
      <origin xyz="0 0 0" rpy="0 -0 0"/>
      <geometry>
        <mesh filename="package://iRonCub-Mk3/iRonCub/meshes/obj/sim_icub3_r_hip_2.obj" scale="0.001 0.001 0.001"/>
      </geometry>
      <material name="">
        <color rgba="0.5 0.5 0.5 1"/>
      </material>
    </visual>
    <collision>
      <origin xyz="0 0 0" rpy="0 -0 0"/>
      <geometry>
        <mesh filename="package://iRonCub-Mk3/iRonCub/meshes/obj/sim_icub3_r_hip_2.obj" scale="0.001 0.001 0.001"/>
      </geometry>
      <material name="">
        <color rgba="0.5 0.5 0.5 1"/>
      </material>
    </collision>
  </link>
  <joint name="r_leg_ft_sensor" type="fixed">
    <origin xyz="0.036700000000000066 -4.163336342344337e-17 -0.08969999999999972" rpy="-6.089063069260033e-15 1.644234531352233e-30 -5.5511151231252706e-17"/>
    <parent link="r_hip_2"/>
    <child link="r_hip_3"/>
  </joint>
  <link name="r_hip_3">
    <inertial>
      <mass value="2.287"/>
      <origin xyz="0.0024329299939115923 0.012333660595895753 -0.03824169008061662" rpy="0 -0 0"/>
      <inertia ixx="0.0038578854356886246" ixy="2.141404125628434e-6" ixz="1.0787230765312922e-5" iyy="0.004113718549864092" iyz="-1.3207662734870832e-4" izz="0.003825213884905135"/>
    </inertial>
    <visual>
      <origin xyz="0 0 0" rpy="0 -0 0"/>
      <geometry>
        <mesh filename="package://iRonCub-Mk3/iRonCub/meshes/obj/sim_icub3_r_hip_3.obj" scale="0.001 0.001 0.001"/>
      </geometry>
      <material name="">
        <color rgba="0.5 0.5 0.5 1"/>
      </material>
    </visual>
    <collision>
      <origin xyz="0 0 0" rpy="0 -0 0"/>
      <geometry>
        <mesh filename="package://iRonCub-Mk3/iRonCub/meshes/obj/sim_icub3_r_hip_3.obj" scale="0.001 0.001 0.001"/>
      </geometry>
      <material name="">
        <color rgba="0.5 0.5 0.5 1"/>
      </material>
    </collision>
  </link>
  <joint name="r_hip_yaw" type="revolute">
    <origin xyz="-8.673617379884035e-17 0.014999999999999993 -0.07089999999999885" rpy="8.466863913638833e-18 1.1277593951375457e-15 -2.2204460492503136e-16"/>
    <axis xyz="-6.449821556600818e-19 -9.607200978997899e-18 -0.9999999999999998"/>
    <parent link="r_hip_3"/>
    <child link="r_upper_leg"/>
    <limit lower="-1.3962634015954636" upper="1.3962634015954636" effort="1e+9" velocity="1e+9"/>
    <dynamics damping="2" friction="0"/>
  </joint>
  <link name="r_upper_leg">
    <inertial>
      <mass value="0.9402980287060128"/>
      <origin xyz="0.005240343603986914 -0.001499805397626633 -0.05185726677356867" rpy="0 -0 0"/>
      <inertia ixx="0.002407761239518152" ixy="2.5566474473690137e-5" ixz="2.275376339918301e-4" iyy="0.0019244659655677687" iyz="-1.0254206344598647e-4" izz="0.0010461394458734497"/>
    </inertial>
    <visual>
      <origin xyz="0 0 0" rpy="0 -0 0"/>
      <geometry>
        <mesh filename="package://iRonCub-Mk3/iRonCub/meshes/obj/sim_icub3_r_upper_leg.obj" scale="0.001 0.001 0.001"/>
      </geometry>
      <material name="">
        <color rgba="0.5 0.5 0.5 1"/>
      </material>
    </visual>
    <collision>
      <origin xyz="0 0 0" rpy="0 -0 0"/>
      <geometry>
        <mesh filename="package://iRonCub-Mk3/iRonCub/meshes/obj/sim_icub3_r_upper_leg.obj" scale="0.001 0.001 0.001"/>
      </geometry>
      <material name="">
        <color rgba="0.5 0.5 0.5 1"/>
      </material>
    </collision>
  </link>
  <joint name="r_knee" type="revolute">
    <origin xyz="0.015000000000000142 -0.024899999999999874 -0.10620000000000207" rpy="1.8143800820083272e-29 -1.127759395137545e-15 5.981115056656332e-15"/>
    <axis xyz="-1.084380013033695e-16 -1 8.486788880534846e-17"/>
    <parent link="r_upper_leg"/>
    <child link="r_lower_leg"/>
    <limit lower="-1.2217304763960306" upper="0.08726646259971647" effort="1e+9" velocity="1e+9"/>
    <dynamics damping="2" friction="0"/>
  </joint>
  <link name="r_lower_leg">
    <inertial>
      <mass value="5.249438043974956"/>
      <origin xyz="-0.013102437510550726 0.02198674723566333 -0.12726139820258864" rpy="0 -0 0"/>
      <inertia ixx="0.055234399867894676" ixy="1.0912006804812842e-4" ixz="-1.3145760496561729e-4" iyy="0.05774844579077887" iyz="2.6101734067283597e-4" izz="0.005983140588196573"/>
    </inertial>
    <visual>
      <origin xyz="0 0 0" rpy="0 -0 0"/>
      <geometry>
        <mesh filename="package://iRonCub-Mk3/iRonCub/meshes/obj/sim_icub3_r_lower_leg.obj" scale="0.001 0.001 0.001"/>
      </geometry>
      <material name="">
        <color rgba="0.5 0.5 0.5 1"/>
      </material>
    </visual>
    <collision>
      <origin xyz="0 0 0" rpy="0 -0 0"/>
      <geometry>
        <mesh filename="package://iRonCub-Mk3/iRonCub/meshes/obj/sim_icub3_r_lower_leg.obj" scale="0.001 0.001 0.001"/>
      </geometry>
      <material name="">
        <color rgba="0.5 0.5 0.5 1"/>
      </material>
    </collision>
  </link>
  <joint name="r_ankle_pitch" type="revolute">
    <origin xyz="-3.365363543395006e-16 4.999999999998617e-4 -0.2559881157599204" rpy="1.0547118733938821e-15 -8.493638465627041e-30 4.4280926965196554e-16"/>
    <axis xyz="1.3179285671219242e-17 1 -1.4993762623373327e-15"/>
    <parent link="r_lower_leg"/>
    <child link="r_ankle_1"/>
    <limit lower="-0.7853981633974483" upper="0.7853981633974483" effort="1e+9" velocity="1e+9"/>
    <dynamics damping="2" friction="0"/>
  </joint>
  <link name="r_ankle_1">
    <inertial>
      <mass value="0.37817767154054266"/>
      <origin xyz="-0.005665751779017677 4.763569575093607e-4 -0.015186733232055771" rpy="0 -0 0"/>
      <inertia ixx="0.01" ixy="0" ixz="0" iyy="0.01" iyz="0" izz="0.01"/>
    </inertial>
    <visual>
      <origin xyz="0 0 0" rpy="0 -0 0"/>
      <geometry>
        <mesh filename="package://iRonCub-Mk3/iRonCub/meshes/obj/sim_icub3_r_ankle_1.obj" scale="0.001 0.001 0.001"/>
      </geometry>
      <material name="">
        <color rgba="0.5 0.5 0.5 1"/>
      </material>
    </visual>
    <collision>
      <origin xyz="0 0 0" rpy="0 -0 0"/>
      <geometry>
        <mesh filename="package://iRonCub-Mk3/iRonCub/meshes/obj/sim_icub3_r_ankle_1.obj" scale="0.001 0.001 0.001"/>
      </geometry>
      <material name="">
        <color rgba="0.5 0.5 0.5 1"/>
      </material>
    </collision>
  </link>
  <joint name="r_ankle_roll" type="revolute">
    <origin xyz="-0.052750000000000005 0.018200000000000077 -0.035000000000001585" rpy="6.230888022028647e-17 -3.720370649524174e-14 -7.888609052210118e-31"/>
    <axis xyz="-1 1.1174132972227575e-16 2.261321834258238e-15"/>
    <parent link="r_ankle_1"/>
    <child link="r_ankle_2"/>
    <limit lower="-0.4363323129985824" upper="0.4363323129985824" effort="1e+9" velocity="1e+9"/>
    <dynamics damping="2" friction="0"/>
  </joint>
  <link name="r_ankle_2">
    <inertial>
      <mass value="1.4240816841588382"/>
      <origin xyz="0.041737128896344386 5.619171243621823e-5 -0.02559370721320453" rpy="0 -0 0"/>
      <inertia ixx="0.01" ixy="0" ixz="0" iyy="0.01" iyz="0" izz="0.009999999999999998"/>
    </inertial>
    <visual>
      <origin xyz="0 0 0" rpy="0 -0 0"/>
      <geometry>
        <mesh filename="package://iRonCub-Mk3/iRonCub/meshes/obj/sim_icub3_r_ankle_2.obj" scale="0.001 0.001 0.001"/>
      </geometry>
      <material name="">
        <color rgba="0.5 0.5 0.5 1"/>
      </material>
    </visual>
    <collision>
      <origin xyz="0 0 0" rpy="0 -0 0"/>
      <geometry>
        <mesh filename="package://iRonCub-Mk3/iRonCub/meshes/obj/sim_icub3_r_ankle_2.obj" scale="0.001 0.001 0.001"/>
      </geometry>
      <material name="">
        <color rgba="0.5 0.5 0.5 1"/>
      </material>
    </collision>
  </link>
  <joint name="r_foot_front_ft_sensor" type="fixed">
    <origin xyz="0.13524999999999748 1.3877787807814457e-17 -0.06579999999999997" rpy="7.888609052210116e-31 3.836494265472103e-14 5.67910914292208e-17"/>
    <parent link="r_ankle_2"/>
    <child link="r_foot_front"/>
  </joint>
  <link name="r_foot_front">
    <inertial>
      <mass value="0.1857731666576178"/>
      <origin xyz="-4.181506435531057e-4 4.850217574709492e-4 0.005581042936262604" rpy="0 -0 0"/>
      <inertia ixx="0.01" ixy="0" ixz="0" iyy="0.01" iyz="0" izz="0.01"/>
    </inertial>
    <visual>
      <origin xyz="0 0 0" rpy="0 -0 0"/>
      <geometry>
        <mesh filename="package://iRonCub-Mk3/iRonCub/meshes/obj/sim_icub3_r_foot_front.obj" scale="0.001 0.001 0.001"/>
      </geometry>
      <material name="">
        <color rgba="0.5 0.5 0.5 1"/>
      </material>
    </visual>
    <collision>
      <origin xyz="-0.0004 0.0004 0.0035" rpy="0 -0 0"/>
      <geometry>
        <box size="0.115 0.1 0.005"/>
      </geometry>
    </collision>
  </link>
  <joint name="r_foot_rear_ft_sensor" type="fixed">
    <origin xyz="0.01599999999999748 1.3877787807814457e-17 -0.06579999999999997" rpy="3.944304526105058e-30 3.836494265472102e-14 5.679109142921843e-17"/>
    <parent link="r_ankle_2"/>
    <child link="r_foot_rear"/>
  </joint>
  <link name="r_foot_rear">
    <inertial>
      <mass value="0.18484137199451806"/>
      <origin xyz="6.18140812367227e-4 7.08241004708926e-5 0.00351328086527336" rpy="0 -0 0"/>
      <inertia ixx="0.01" ixy="0" ixz="0" iyy="0.01" iyz="0" izz="0.01"/>
    </inertial>
    <visual>
      <origin xyz="0 0 0" rpy="0 -0 0"/>
      <geometry>
        <mesh filename="package://iRonCub-Mk3/iRonCub/meshes/obj/sim_icub3_r_foot_rear.obj" scale="0.001 0.001 0.001"/>
      </geometry>
      <material name="">
        <color rgba="0.5 0.5 0.5 1"/>
      </material>
    </visual>
    <collision>
      <origin xyz="0.0006 0.00007 0.0035" rpy="0 -0 0"/>
      <geometry>
        <box size="0.115 0.1 0.005"/>
      </geometry>
    </collision>
  </link>
  <joint name="l_hip_roll" type="revolute">
    <origin xyz="-0.0472500000000006 0.03310000000000002 -0.009000000000000008" rpy="1.9428902930940228e-15 3.59183578855383e-18 1.1102230246251519e-16"/>
    <axis xyz="1 -1.7225464241988584e-16 -2.1891268435602713e-16"/>
    <parent link="l_hip_1"/>
    <child link="l_hip_2"/>
    <limit lower="-0.17453292519943295" upper="1.9547687622336491" effort="1e+9" velocity="1e+9"/>
    <dynamics damping="2" friction="0"/>
  </joint>
  <link name="l_hip_2">
    <inertial>
      <mass value="1.8336146355226512"/>
      <origin xyz="-0.003963823462979028 5.4915974113028954e-5 -0.03753786360473582" rpy="0 -0 0"/>
      <inertia ixx="0.003066965059357712" ixy="4.222906828090903e-6" ixz="9.784726858463354e-4" iyy="0.005406838837606385" iyz="-3.2731216652879554e-6" izz="0.0033884858746293946"/>
    </inertial>
    <visual>
      <origin xyz="0 0 0" rpy="0 -0 0"/>
      <geometry>
        <mesh filename="package://iRonCub-Mk3/iRonCub/meshes/obj/sim_icub3_l_hip_2.obj" scale="0.001 0.001 0.001"/>
      </geometry>
      <material name="">
        <color rgba="0.5 0.5 0.5 1"/>
      </material>
    </visual>
    <collision>
      <origin xyz="0 0 0" rpy="0 -0 0"/>
      <geometry>
        <mesh filename="package://iRonCub-Mk3/iRonCub/meshes/obj/sim_icub3_l_hip_2.obj" scale="0.001 0.001 0.001"/>
      </geometry>
      <material name="">
        <color rgba="0.5 0.5 0.5 1"/>
      </material>
    </collision>
  </link>
  <joint name="l_leg_ft_sensor" type="fixed">
    <origin xyz="0.036699999999999955 2.7755575615628914e-17 -0.08970000000000022" rpy="-1.281858686408453e-16 -3.5918357885545286e-18 -1.3404913655338114e-17"/>
    <parent link="l_hip_2"/>
    <child link="l_hip_3"/>
  </joint>
  <link name="l_hip_3">
    <inertial>
      <mass value="2.287"/>
      <origin xyz="0.002441657177412888 -0.012306897913026221 -0.038198708758093114" rpy="0 -0 0"/>
      <inertia ixx="0.0038139398541961536" ixy="-3.0418371566406135e-6" ixz="9.618718639831076e-6" iyy="0.004070330408064402" iyz="1.3751070132040277e-4" izz="0.003820323869788303"/>
    </inertial>
    <visual>
      <origin xyz="0 0 0" rpy="0 -0 0"/>
      <geometry>
        <mesh filename="package://iRonCub-Mk3/iRonCub/meshes/obj/sim_icub3_l_hip_3.obj" scale="0.001 0.001 0.001"/>
      </geometry>
      <material name="">
        <color rgba="0.5 0.5 0.5 1"/>
      </material>
    </visual>
    <collision>
      <origin xyz="0 0 0" rpy="0 -0 0"/>
      <geometry>
        <mesh filename="package://iRonCub-Mk3/iRonCub/meshes/obj/sim_icub3_l_hip_3.obj" scale="0.001 0.001 0.001"/>
      </geometry>
      <material name="">
        <color rgba="0.5 0.5 0.5 1"/>
      </material>
    </collision>
  </link>
  <joint name="l_hip_yaw" type="revolute">
    <origin xyz="2.42861286636753e-17 -0.014999999999999875 -0.07089999999999985" rpy="2.1856686386546657e-15 9.123888478787322e-16 1.6653345369376246e-16"/>
    <axis xyz="1.108768777118629e-18 -1.1127924608260968e-17 1"/>
    <parent link="l_hip_3"/>
    <child link="l_upper_leg"/>
    <limit lower="-1.3962634015954636" upper="1.3962634015954636" effort="1e+9" velocity="1e+9"/>
    <dynamics damping="2" friction="0"/>
  </joint>
  <link name="l_upper_leg">
    <inertial>
      <mass value="0.9402980337939509"/>
      <origin xyz="0.005238111641087078 0.0014993100955970201 -0.05185129954426432" rpy="0 -0 0"/>
      <inertia ixx="0.0024047142437120463" ixy="-2.561537238621913e-5" ixz="2.2710797569398762e-4" iyy="0.0019214681467854904" iyz="1.0259690197735792e-4" izz="0.0010462331837568272"/>
    </inertial>
    <visual>
      <origin xyz="0 0 0" rpy="0 -0 0"/>
      <geometry>
        <mesh filename="package://iRonCub-Mk3/iRonCub/meshes/obj/sim_icub3_l_upper_leg.obj" scale="0.001 0.001 0.001"/>
      </geometry>
      <material name="">
        <color rgba="0.5 0.5 0.5 1"/>
      </material>
    </visual>
    <collision>
      <origin xyz="0 0 0" rpy="0 -0 0"/>
      <geometry>
        <mesh filename="package://iRonCub-Mk3/iRonCub/meshes/obj/sim_icub3_l_upper_leg.obj" scale="0.001 0.001 0.001"/>
      </geometry>
      <material name="">
        <color rgba="0.5 0.5 0.5 1"/>
      </material>
    </collision>
  </link>
  <joint name="l_knee" type="revolute">
    <origin xyz="0.014999999999999918 0.02489999999999995 -0.1061999999999999" rpy="-7.888609052210118e-31 -9.195258311043086e-16 3.67642019783261e-15"/>
    <axis xyz="7.741033639899439e-17 -1 -5.247028505138709e-16"/>
    <parent link="l_upper_leg"/>
    <child link="l_lower_leg"/>
    <limit lower="-1.2217304763960306" upper="0.08726646259971647" effort="1e+9" velocity="1e+9"/>
    <dynamics damping="2" friction="0"/>
  </joint>
  <link name="l_lower_leg">
    <inertial>
      <mass value="5.22091999406075"/>
      <origin xyz="-0.01322112433681963 -0.022063173517859455 -0.12639501280377896" rpy="0 -0 0"/>
      <inertia ixx="0.054626484296535716" ixy="-1.0418683353063366e-4" ixz="-1.8594698948841935e-4" iyy="0.05711821743066091" iyz="-3.155420333838515e-4" izz="0.005952976587068344"/>
    </inertial>
    <visual>
      <origin xyz="0 0 0" rpy="0 -0 0"/>
      <geometry>
        <mesh filename="package://iRonCub-Mk3/iRonCub/meshes/obj/sim_icub3_l_lower_leg.obj" scale="0.001 0.001 0.001"/>
      </geometry>
      <material name="">
        <color rgba="0.5 0.5 0.5 1"/>
      </material>
    </visual>
    <collision>
      <origin xyz="0 0 0" rpy="0 -0 0"/>
      <geometry>
        <mesh filename="package://iRonCub-Mk3/iRonCub/meshes/obj/sim_icub3_l_lower_leg.obj" scale="0.001 0.001 0.001"/>
      </geometry>
      <material name="">
        <color rgba="0.5 0.5 0.5 1"/>
      </material>
    </collision>
  </link>
  <joint name="l_ankle_pitch" type="revolute">
    <origin xyz="-2.5673907444456745e-16 -5.00000000000056e-4 -0.25598811575992053" rpy="0 8.753761442151805e-31 4.4408920985006104e-16"/>
    <axis xyz="5.3664452411374737e-17 1 5.24702850513869e-16"/>
    <parent link="l_lower_leg"/>
    <child link="l_ankle_1"/>
    <limit lower="-0.7853981633974483" upper="0.7853981633974483" effort="1e+9" velocity="1e+9"/>
    <dynamics damping="2" friction="0"/>
  </joint>
  <link name="l_ankle_1">
    <inertial>
      <mass value="0.37817767154054266"/>
      <origin xyz="-0.005670912772176413 -4.7758897724493876e-4 -0.015197894505090794" rpy="0 -0 0"/>
      <inertia ixx="0.01" ixy="0" ixz="0" iyy="0.01" iyz="0" izz="0.01"/>
    </inertial>
    <visual>
      <origin xyz="0 0 0" rpy="0 -0 0"/>
      <geometry>
        <mesh filename="package://iRonCub-Mk3/iRonCub/meshes/obj/sim_icub3_l_ankle_1.obj" scale="0.001 0.001 0.001"/>
      </geometry>
      <material name="">
        <color rgba="0.5 0.5 0.5 1"/>
      </material>
    </visual>
    <collision>
      <origin xyz="0 0 0" rpy="0 -0 0"/>
      <geometry>
        <mesh filename="package://iRonCub-Mk3/iRonCub/meshes/obj/sim_icub3_l_ankle_1.obj" scale="0.001 0.001 0.001"/>
      </geometry>
      <material name="">
        <color rgba="0.5 0.5 0.5 1"/>
      </material>
    </collision>
  </link>
  <joint name="l_ankle_roll" type="revolute">
    <origin xyz="-0.052749999999999964 -0.01819999999999994 -0.03499999999999959" rpy="1.332267629550187e-15 -2.7396392036772293e-16 -1.2767564783189296e-15"/>
    <axis xyz="1 2.589049814262538e-16 -6.02952504474411e-16"/>
    <parent link="l_ankle_1"/>
    <child link="l_ankle_2"/>
    <limit lower="-0.4363323129985824" upper="0.4363323129985824" effort="1e+9" velocity="1e+9"/>
    <dynamics damping="2" friction="0"/>
  </joint>
  <link name="l_ankle_2">
    <inertial>
      <mass value="1.4240392417689562"/>
      <origin xyz="0.04170482219514868 -5.498196070995165e-5 -0.02565166298731636" rpy="0 -0 0"/>
      <inertia ixx="0.01" ixy="0" ixz="0" iyy="0.01" iyz="0" izz="0.01"/>
    </inertial>
    <visual>
      <origin xyz="0 0 0" rpy="0 -0 0"/>
      <geometry>
        <mesh filename="package://iRonCub-Mk3/iRonCub/meshes/obj/sim_icub3_l_ankle_2.obj" scale="0.001 0.001 0.001"/>
      </geometry>
      <material name="">
        <color rgba="0.5 0.5 0.5 1"/>
      </material>
    </visual>
    <collision>
      <origin xyz="0 0 0" rpy="0 -0 0"/>
      <geometry>
        <mesh filename="package://iRonCub-Mk3/iRonCub/meshes/obj/sim_icub3_l_ankle_2.obj" scale="0.001 0.001 0.001"/>
      </geometry>
      <material name="">
        <color rgba="0.5 0.5 0.5 1"/>
      </material>
    </collision>
  </link>
  <joint name="l_foot_front_ft_sensor" type="fixed">
    <origin xyz="0.13525 1.3877787807814457e-17 -0.0658000000000003" rpy="0 -8.326672684689862e-17 -1.9721522630525295e-29"/>
    <parent link="l_ankle_2"/>
    <child link="l_foot_front"/>
  </joint>
  <link name="l_foot_front">
    <inertial>
      <mass value="0.18507432066029245"/>
      <origin xyz="7.678828839985385e-5 -3.9884343929971755e-5 0.004256107071335946" rpy="0 -0 0"/>
      <inertia ixx="0.01" ixy="0" ixz="0" iyy="0.01" iyz="0" izz="0.01"/>
    </inertial>
    <visual>
      <origin xyz="0 0 0" rpy="0 -0 0"/>
      <geometry>
        <mesh filename="package://iRonCub-Mk3/iRonCub/meshes/obj/sim_icub3_l_foot_front.obj" scale="0.001 0.001 0.001"/>
      </geometry>
      <material name="">
        <color rgba="0.5 0.5 0.5 1"/>
      </material>
    </visual>
    <collision>
      <origin xyz="0.000077 -0.000039 0.0035" rpy="0 -0 0"/>
      <geometry>
        <box size="0.115 0.1 0.005"/>
      </geometry>
    </collision>
  </link>
  <joint name="l_foot_rear_ft_sensor" type="fixed">
    <origin xyz="0.016 2.7755575615628914e-17 -0.0658000000000003" rpy="0 -8.326672684689941e-17 -1.6171648557030742e-29"/>
    <parent link="l_ankle_2"/>
    <child link="l_foot_rear"/>
  </joint>
  <link name="l_foot_rear">
    <inertial>
      <mass value="0.18460842332874144"/>
      <origin xyz="5.055764240281327e-4 3.345497135118225e-5 0.003658777729100171" rpy="0 -0 0"/>
      <inertia ixx="0.01" ixy="0" ixz="0" iyy="0.01" iyz="0" izz="0.01"/>
    </inertial>
    <visual>
      <origin xyz="0 0 0" rpy="0 -0 0"/>
      <geometry>
        <mesh filename="package://iRonCub-Mk3/iRonCub/meshes/obj/sim_icub3_l_foot_rear.obj" scale="0.001 0.001 0.001"/>
      </geometry>
      <material name="">
        <color rgba="0.5 0.5 0.5 1"/>
      </material>
    </visual>
    <collision>
      <origin xyz="0.0005 0.000033 0.0035" rpy="0 -0 0"/>
      <geometry>
        <box size="0.115 0.1 0.005"/>
      </geometry>
    </collision>
  </link>
  <link name="l_arm_ft"/>
  <joint name="l_arm_ft_fixed_joint" type="fixed">
    <origin xyz="-0.004349999999999996 -2.7755575615628914e-17 -0.0543" rpy="3.141592653589793 2.220446049250313e-16 -1.5707963267948952"/>
    <parent link="l_shoulder_2"/>
    <child link="l_arm_ft"/>
  </joint>
  <link name="l_foot_front_ft"/>
  <joint name="l_foot_front_ft_fixed_joint" type="fixed">
    <origin xyz="0.13525 2.7755575615628914e-17 -0.043500000000000094" rpy="-2.368809241389469e-16 -2.3422967732622925e-16 -2.0943951023931957"/>
    <parent link="l_ankle_2"/>
    <child link="l_foot_front_ft"/>
  </joint>
  <link name="l_foot_rear_ft"/>
  <joint name="l_foot_rear_ft_fixed_joint" type="fixed">
    <origin xyz="0.016000000000000007 1.3877787807814457e-17 -0.043500000000000094" rpy="3.1823058817363016e-16 9.88372300613185e-17 -2.0943951023931957"/>
    <parent link="l_ankle_2"/>
    <child link="l_foot_rear_ft"/>
  </joint>
  <link name="l_jet_ft"/>
  <joint name="l_jet_ft_fixed_joint" type="fixed">
    <origin xyz="-0.16427974360580236 0.014990000000000003 -0.03919051679480075" rpy="-3.1415926535897913 -0.26179938779914924 3.141592653589786"/>
    <parent link="chest_jetpack"/>
    <child link="l_jet_ft"/>
  </joint>
  <link name="r_arm_ft"/>
  <joint name="r_arm_ft_fixed_joint" type="fixed">
    <origin xyz="-0.006850000000000002 0 -0.05429999999999999" rpy="3.141592653589793 1.942890293094024e-16 1.5707963267948981"/>
    <parent link="r_shoulder_2"/>
    <child link="r_arm_ft"/>
  </joint>
  <link name="r_foot_front_ft"/>
  <joint name="r_foot_front_ft_fixed_joint" type="fixed">
    <origin xyz="0.13524999999999834 -1.3877787807814457e-17 -0.04349999999999987" rpy="-2.6463649975457505e-16 -1.8615561016663726e-16 -2.0943951023931966"/>
    <parent link="r_ankle_2"/>
    <child link="r_foot_front_ft"/>
  </joint>
  <link name="r_foot_rear_ft"/>
  <joint name="r_foot_rear_ft_fixed_joint" type="fixed">
    <origin xyz="0.015999999999998335 1.3877787807814457e-17 -0.04349999999999998" rpy="2.904750125580036e-16 1.4691129722091128e-16 -2.0943951023931966"/>
    <parent link="r_ankle_2"/>
    <child link="r_foot_rear_ft"/>
  </joint>
  <link name="r_jet_ft"/>
  <joint name="r_jet_ft_fixed_joint" type="fixed">
    <origin xyz="0.16401974360580238 0.014990000000000142 -0.03919051679480075" rpy="-3.141592653589792 -0.2617993877991493 -5.057304790283951e-15"/>
    <parent link="chest_jetpack"/>
    <child link="r_jet_ft"/>
  </joint>
  <link name="l_sole"/>
  <joint name="l_sole_fixed_joint" type="fixed">
    <origin xyz="0.05963000000000001 -1.3877787807814457e-17 1.1102230246251565e-16" rpy="-7.888609052210118e-31 6.024039948780824e-30 -7.888609052210118e-31"/>
    <parent link="l_foot_rear"/>
    <child link="l_sole"/>
  </joint>
  <link name="l_sole_1"/>
  <joint name="l_sole_1_fixed_joint" type="fixed">
    <origin xyz="0.025000000000000036 0.025249999999999995 -1.1102230246251565e-16" rpy="-7.888609052210118e-31 6.024039948780824e-30 -7.888609052210118e-31"/>
    <parent link="l_foot_front"/>
    <child link="l_sole_1"/>
  </joint>
  <link name="l_sole_2"/>
  <joint name="l_sole_2_fixed_joint" type="fixed">
    <origin xyz="0.025000000000000036 -0.02475 0" rpy="-7.888609052210118e-31 6.024039948780824e-30 -7.888609052210118e-31"/>
    <parent link="l_foot_front"/>
    <child link="l_sole_2"/>
  </joint>
  <link name="l_sole_3"/>
  <joint name="l_sole_3_fixed_joint" type="fixed">
    <origin xyz="-0.035 -0.024749999999999987 1.1102230246251565e-16" rpy="-7.888609052210118e-31 6.024039948780824e-30 -7.888609052210118e-31"/>
    <parent link="l_foot_rear"/>
    <child link="l_sole_3"/>
  </joint>
  <link name="l_sole_4"/>
  <joint name="l_sole_4_fixed_joint" type="fixed">
    <origin xyz="-0.034999999999999996 0.030250000000000013 1.1102230246251565e-16" rpy="-7.888609052210118e-31 6.024039948780824e-30 -7.888609052210118e-31"/>
    <parent link="l_foot_rear"/>
    <child link="l_sole_4"/>
  </joint>
  <link name="realsense_imu"/>
  <joint name="realsense_imu_fixed_joint" type="fixed">
    <origin xyz="0.17474 0.00874979 0.0477659" rpy="0.7853981633974483 -0 -1.5707963267948966"/>
    <parent link="chest"/>
    <child link="realsense_imu"/>
  </joint>
  <link name="r_sole"/>
  <joint name="r_sole_fixed_joint" type="fixed">
    <origin xyz="0.05963 0 -1.1102230246251565e-16" rpy="0 -5.227867320768577e-31 -7.888609052210118e-31"/>
    <parent link="r_foot_rear"/>
    <child link="r_sole"/>
  </joint>
  <link name="r_sole_1"/>
  <joint name="r_sole_1_fixed_joint" type="fixed">
    <origin xyz="0.02500000000000001 -0.025149999999999992 1.1102230246251565e-16" rpy="0 -5.227867320768577e-31 -7.888609052210118e-31"/>
    <parent link="r_foot_front"/>
    <child link="r_sole_1"/>
  </joint>
  <link name="r_sole_2"/>
  <joint name="r_sole_2_fixed_joint" type="fixed">
    <origin xyz="0.02499999999999998 0.024850000000000004 1.1102230246251565e-16" rpy="0 -5.227867320768577e-31 -7.888609052210118e-31"/>
    <parent link="r_foot_front"/>
    <child link="r_sole_2"/>
  </joint>
  <link name="r_sole_3"/>
  <joint name="r_sole_3_fixed_joint" type="fixed">
    <origin xyz="-0.034999999999999996 0.024850000000000004 0" rpy="0 -5.227867320768577e-31 -7.888609052210118e-31"/>
    <parent link="r_foot_rear"/>
    <child link="r_sole_3"/>
  </joint>
  <link name="r_sole_4"/>
  <joint name="r_sole_4_fixed_joint" type="fixed">
    <origin xyz="-0.035 -0.03014999999999997 -1.1102230246251565e-16" rpy="0 -5.227867320768577e-31 -7.888609052210118e-31"/>
    <parent link="r_foot_rear"/>
    <child link="r_sole_4"/>
  </joint>
  <link name="base_link"/>
  <joint name="base_link_fixed_joint" type="fixed">
    <origin xyz="0 0 0" rpy="0 -0 0"/>
    <axis xyz="0 0 0"/>
    <parent link="root_link"/>
    <child link="base_link"/>
  </joint>
  <gazebo reference="r_arm_ft_sensor">
    <preserveFixedJoint>true</preserveFixedJoint>
    <!-- For compatibility with SDFormat < 4.4 -->
    <disableFixedJointLumping>true</disableFixedJointLumping>
  </gazebo>
  <gazebo reference="r_jet_ft_sensor">
    <preserveFixedJoint>true</preserveFixedJoint>
    <!-- For compatibility with SDFormat < 4.4 -->
    <disableFixedJointLumping>true</disableFixedJointLumping>
  </gazebo>
  <gazebo reference="l_jet_ft_sensor">
    <preserveFixedJoint>true</preserveFixedJoint>
    <!-- For compatibility with SDFormat < 4.4 -->
    <disableFixedJointLumping>true</disableFixedJointLumping>
  </gazebo>
  <gazebo reference="l_arm_ft_sensor">
    <preserveFixedJoint>true</preserveFixedJoint>
    <!-- For compatibility with SDFormat < 4.4 -->
    <disableFixedJointLumping>true</disableFixedJointLumping>
  </gazebo>
  <gazebo reference="l_foot_front_ft_sensor">
    <preserveFixedJoint>true</preserveFixedJoint>
    <!-- For compatibility with SDFormat < 4.4 -->
    <disableFixedJointLumping>true</disableFixedJointLumping>
  </gazebo>
  <gazebo reference="l_foot_rear_ft_sensor">
    <preserveFixedJoint>true</preserveFixedJoint>
    <!-- For compatibility with SDFormat < 4.4 -->
    <disableFixedJointLumping>true</disableFixedJointLumping>
  </gazebo>
  <gazebo reference="l_foot_front">
    <collision>
      <surface>
        <bounce>
          <restitution_coefficient>0</restitution_coefficient>
          <threshold>100000</threshold>
        </bounce>
      </surface>
    </collision>
    <maxContacts>4</maxContacts>
    <kp>18000000</kp>
    <kd>100</kd>
    <maxVel>100</maxVel>
    <minDepth>0.0001</minDepth>
    <mu1>1</mu1>
    <mu2>1</mu2>
    <fdir1>0 0 0</fdir1>
  </gazebo>
  <gazebo reference="l_foot_rear">
    <collision>
      <surface>
        <bounce>
          <restitution_coefficient>0</restitution_coefficient>
          <threshold>100000</threshold>
        </bounce>
      </surface>
    </collision>
    <maxContacts>4</maxContacts>
    <kp>18000000</kp>
    <kd>100</kd>
    <maxVel>100</maxVel>
    <minDepth>0.0001</minDepth>
    <mu1>1</mu1>
    <mu2>1</mu2>
    <fdir1>0 0 0</fdir1>
  </gazebo>
  <gazebo>
    <plugin name="controlboard_left_leg" filename="libgazebo_yarp_controlboard.so">
      <yarpConfigurationFile>model://iRonCub-Mk3/iRonCub/conf/gazebo_icub_left_leg.ini</yarpConfigurationFile>
    </plugin>
  </gazebo>
  <gazebo reference="l_leg_ft_sensor">
    <preserveFixedJoint>true</preserveFixedJoint>
    <!-- For compatibility with SDFormat < 4.4 -->
    <disableFixedJointLumping>true</disableFixedJointLumping>
  </gazebo>
  <gazebo reference="r_leg_ft_sensor">
    <preserveFixedJoint>true</preserveFixedJoint>
    <!-- For compatibility with SDFormat < 4.4 -->
    <disableFixedJointLumping>true</disableFixedJointLumping>
  </gazebo>
  <gazebo reference="r_foot_front_ft_sensor">
    <preserveFixedJoint>true</preserveFixedJoint>
    <!-- For compatibility with SDFormat < 4.4 -->
    <disableFixedJointLumping>true</disableFixedJointLumping>
  </gazebo>
  <gazebo reference="realsense_imu">
    <preserveFixedJoint>true</preserveFixedJoint>
    <!-- For compatibility with SDFormat < 4.4 -->
    <disableFixedJointLumping>true</disableFixedJointLumping>
  </gazebo>
  <gazebo reference="r_foot_rear_ft_sensor">
    <preserveFixedJoint>true</preserveFixedJoint>
    <!-- For compatibility with SDFormat < 4.4 -->
    <disableFixedJointLumping>true</disableFixedJointLumping>
  </gazebo>
  <gazebo reference="r_foot_front">
    <collision>
      <surface>
        <bounce>
          <restitution_coefficient>0</restitution_coefficient>
          <threshold>100000</threshold>
        </bounce>
      </surface>
    </collision>
    <maxContacts>4</maxContacts>
    <kp>18000000</kp>
    <kd>100</kd>
    <maxVel>100</maxVel>
    <minDepth>0.0001</minDepth>
    <mu1>1</mu1>
    <mu2>1</mu2>
    <fdir1>0 0 0</fdir1>
  </gazebo>
  <gazebo reference="r_foot_rear">
    <collision>
      <surface>
        <bounce>
          <restitution_coefficient>0</restitution_coefficient>
          <threshold>100000</threshold>
        </bounce>
      </surface>
    </collision>
    <maxContacts>4</maxContacts>
    <kp>18000000</kp>
    <kd>100</kd>
    <maxVel>100</maxVel>
    <minDepth>0.0001</minDepth>
    <mu1>1</mu1>
    <mu2>1</mu2>
    <fdir1>0 0 0</fdir1>
  </gazebo>
  <gazebo reference="r_hip_pitch">
    <implicitSpringDamper>1</implicitSpringDamper>
  </gazebo>
  <gazebo reference="r_hip_roll">
    <implicitSpringDamper>1</implicitSpringDamper>
  </gazebo>
  <gazebo reference="r_hip_yaw">
    <implicitSpringDamper>1</implicitSpringDamper>
  </gazebo>
  <gazebo reference="r_knee">
    <implicitSpringDamper>1</implicitSpringDamper>
  </gazebo>
  <gazebo reference="r_ankle_pitch">
    <implicitSpringDamper>1</implicitSpringDamper>
  </gazebo>
  <gazebo reference="r_ankle_roll">
    <implicitSpringDamper>1</implicitSpringDamper>
  </gazebo>
  <gazebo reference="l_hip_pitch">
    <implicitSpringDamper>1</implicitSpringDamper>
  </gazebo>
  <gazebo reference="l_hip_roll">
    <implicitSpringDamper>1</implicitSpringDamper>
  </gazebo>
  <gazebo reference="l_hip_yaw">
    <implicitSpringDamper>1</implicitSpringDamper>
  </gazebo>
  <gazebo reference="l_knee">
    <implicitSpringDamper>1</implicitSpringDamper>
  </gazebo>
  <gazebo reference="l_ankle_pitch">
    <implicitSpringDamper>1</implicitSpringDamper>
  </gazebo>
  <gazebo reference="l_ankle_roll">
    <implicitSpringDamper>1</implicitSpringDamper>
  </gazebo>
  <gazebo reference="torso_pitch">
    <implicitSpringDamper>1</implicitSpringDamper>
  </gazebo>
  <gazebo reference="torso_roll">
    <implicitSpringDamper>1</implicitSpringDamper>
  </gazebo>
  <gazebo reference="torso_yaw">
    <implicitSpringDamper>1</implicitSpringDamper>
  </gazebo>
  <gazebo reference="r_shoulder_pitch">
    <implicitSpringDamper>1</implicitSpringDamper>
  </gazebo>
  <gazebo reference="r_shoulder_roll">
    <implicitSpringDamper>1</implicitSpringDamper>
  </gazebo>
  <gazebo reference="r_shoulder_yaw">
    <implicitSpringDamper>1</implicitSpringDamper>
  </gazebo>
  <gazebo reference="l_shoulder_pitch">
    <implicitSpringDamper>1</implicitSpringDamper>
  </gazebo>
  <gazebo reference="l_shoulder_roll">
    <implicitSpringDamper>1</implicitSpringDamper>
  </gazebo>
  <gazebo reference="l_shoulder_yaw">
    <implicitSpringDamper>1</implicitSpringDamper>
  </gazebo>
  <gazebo reference="l_elbow_turbine">
    <preserveFixedJoint>true</preserveFixedJoint>
    <disableFixedJointLumping>true</disableFixedJointLumping>
  </gazebo>
  <gazebo reference="jetpack">
    <preserveFixedJoint>true</preserveFixedJoint>
    <disableFixedJointLumping>true</disableFixedJointLumping>
  </gazebo>
  <gazebo reference="r_elbow_turbine">
    <preserveFixedJoint>true</preserveFixedJoint>
    <disableFixedJointLumping>true</disableFixedJointLumping>
  </gazebo>
  <gazebo reference="neck_pitch">
    <implicitSpringDamper>1</implicitSpringDamper>
  </gazebo>
  <gazebo reference="neck_roll">
    <implicitSpringDamper>1</implicitSpringDamper>
  </gazebo>
  <gazebo reference="neck_yaw">
    <implicitSpringDamper>1</implicitSpringDamper>
  </gazebo>
  <gazebo reference="l_shoulder_pitch">
    <implicitSpringDamper>1</implicitSpringDamper>
  </gazebo>
  <gazebo reference="l_shoulder_roll">
    <implicitSpringDamper>1</implicitSpringDamper>
  </gazebo>
  <gazebo reference="l_shoulder_yaw">
    <implicitSpringDamper>1</implicitSpringDamper>
  </gazebo>
  <gazebo reference="l_elbow">
    <implicitSpringDamper>1</implicitSpringDamper>
  </gazebo>
  <gazebo reference="r_shoulder_pitch">
    <implicitSpringDamper>1</implicitSpringDamper>
  </gazebo>
  <gazebo reference="r_shoulder_roll">
    <implicitSpringDamper>1</implicitSpringDamper>
  </gazebo>
  <gazebo reference="r_shoulder_yaw">
    <implicitSpringDamper>1</implicitSpringDamper>
  </gazebo>
  <gazebo reference="r_elbow">
    <implicitSpringDamper>1</implicitSpringDamper>
  </gazebo>
  <gazebo>
    <plugin name="controlboard_right_arm_no_hand" filename="libgazebo_yarp_controlboard.so">
      <yarpConfigurationFile>model://iRonCub-Mk3/iRonCub/conf/gazebo_icub_right_arm_no_hand_for_no_hand_model.ini</yarpConfigurationFile>
      <initialConfiguration>-0.52 0.52 0 0.785 0 0 0.0</initialConfiguration>
    </plugin>
    <plugin name="controlboard_left_arm_no_hand" filename="libgazebo_yarp_controlboard.so">
      <yarpConfigurationFile>model://iRonCub-Mk3/iRonCub/conf/gazebo_icub_left_arm_no_hand_for_no_hand_model.ini</yarpConfigurationFile>
      <initialConfiguration>-0.52 0.52 0 0.785 0 0 0.0</initialConfiguration>
    </plugin>
    <plugin name="controlboard_right_leg" filename="libgazebo_yarp_controlboard.so">
      <yarpConfigurationFile>model://iRonCub-Mk3/iRonCub/conf/gazebo_icub_right_leg.ini</yarpConfigurationFile>
    </plugin>
    <plugin name="controlboard_torso" filename="libgazebo_yarp_controlboard.so">
      <yarpConfigurationFile>model://iRonCub-Mk3/iRonCub/conf/gazebo_icub_torso.ini</yarpConfigurationFile>
    </plugin>
    <plugin name="controlboard_head_without_eyes" filename="libgazebo_yarp_controlboard.so">
      <yarpConfigurationFile>model://iRonCub-Mk3/iRonCub/conf/gazebo_icub_head_without_eyes_V2_7.ini</yarpConfigurationFile>
    </plugin>
    <plugin name="jets-plugin" filename="libjets-plugin.so">
      <yarpConfigurationFile>model://iRonCub-Mk3/iRonCub/conf/jets.ini</yarpConfigurationFile>
    </plugin>
    <plugin name="basestate" filename="libgazebo_yarp_basestate.so">
      <yarpConfigurationFile>model://iRonCub-Mk3/iRonCub/conf/base.ini</yarpConfigurationFile>
    </plugin>
    <plugin name="robotinterface" filename="libgazebo_yarp_robotinterface.so">
      <yarpRobotInterfaceConfigurationFile>model://iRonCub-Mk3/iRonCub/conf/iRonCub.xml</yarpRobotInterfaceConfigurationFile>
    </plugin>
    <plugin name="apply_external_wrench" filename="libgazebo_yarp_externalwrench.so">
      <robotNamefromConfigFile>model://iCub/conf/gazebo_icub_robotname.ini</robotNamefromConfigFile>
    </plugin>
  </gazebo>
  <gazebo>
    <plugin name="gzyarp::Imu" filename="gz-sim-yarp-imu-system">
      <yarpConfigurationFile>model://iRonCub-Mk3/iRonCub/conf/gazebo_icub_inertial.ini</yarpConfigurationFile>
    </plugin>
    <plugin name="gzyarp::Imu" filename="gz-sim-yarp-imu-system">
      <yarpConfigurationFile>model://iRonCub-Mk3/iRonCub/conf/gazebo_icub_xsens_inertial.ini</yarpConfigurationFile>
    </plugin>
    <plugin name="gzyarp::ControlBoard" filename="gz-sim-yarp-controlboard-system">
      <yarpConfigurationFile>model://iRonCub-Mk3/iRonCub/conf/gazebo_icub_left_leg.ini</yarpConfigurationFile>
    </plugin>
    <plugin name="gzyarp::ControlBoard" filename="gz-sim-yarp-controlboard-system">
      <yarpConfigurationFile>model://iRonCub-Mk3/iRonCub/conf/gazebo_icub_right_arm_no_hand_for_no_hand_model.ini</yarpConfigurationFile>
      <initialConfiguration>-0.52 0.52 0 0.785 0 0 0.0</initialConfiguration>
    </plugin>
    <plugin name="gzyarp::ControlBoard" filename="gz-sim-yarp-controlboard-system">
      <yarpConfigurationFile>model://iRonCub-Mk3/iRonCub/conf/gazebo_icub_left_arm_no_hand_for_no_hand_model.ini</yarpConfigurationFile>
      <initialConfiguration>-0.52 0.52 0 0.785 0 0 0.0</initialConfiguration>
    </plugin>
    <plugin name="gzyarp::ControlBoard" filename="gz-sim-yarp-controlboard-system">
      <yarpConfigurationFile>model://iRonCub-Mk3/iRonCub/conf/gazebo_icub_right_leg.ini</yarpConfigurationFile>
    </plugin>
    <plugin name="gzyarp::ControlBoard" filename="gz-sim-yarp-controlboard-system">
      <yarpConfigurationFile>model://iRonCub-Mk3/iRonCub/conf/gazebo_icub_torso.ini</yarpConfigurationFile>
    </plugin>
    <plugin name="gzyarp::ControlBoard" filename="gz-sim-yarp-controlboard-system">
      <yarpConfigurationFile>model://iRonCub-Mk3/iRonCub/conf/gazebo_icub_head_without_eyes_V2_7.ini</yarpConfigurationFile>
    </plugin>
    <plugin name="gzyarp::BaseState" filename="gz-sim-yarp-basestate-system">
      <yarpConfigurationFile>model://iRonCub-Mk3/iRonCub/conf/base.ini</yarpConfigurationFile>
    </plugin>
    <plugin name="gzyarp::ForceTorque" filename="gz-sim-yarp-forcetorque-system">
      <yarpConfigurationFile>model://iRonCub-Mk3/iRonCub/conf/FT/gazebo_icub_left_arm_ft.ini</yarpConfigurationFile>
    </plugin>
    <plugin name="gzyarp::ForceTorque" filename="gz-sim-yarp-forcetorque-system">
      <yarpConfigurationFile>model://iRonCub-Mk3/iRonCub/conf/FT/gazebo_icub_right_arm_ft.ini</yarpConfigurationFile>
    </plugin>
    <plugin name="gzyarp::ForceTorque" filename="gz-sim-yarp-forcetorque-system">
      <yarpConfigurationFile>model://iRonCub-Mk3/iRonCub/conf/FT/gazebo_icub_left_jet_ft.ini</yarpConfigurationFile>
    </plugin>
    <plugin name="gzyarp::ForceTorque" filename="gz-sim-yarp-forcetorque-system">
      <yarpConfigurationFile>model://iRonCub-Mk3/iRonCub/conf/FT/gazebo_icub_right_jet_ft.ini</yarpConfigurationFile>
    </plugin>
    <plugin name="gzyarp::ForceTorque" filename="gz-sim-yarp-forcetorque-system">
      <yarpConfigurationFile>model://iRonCub-Mk3/iRonCub/conf/FT/gazebo_icub_left_foot_front_ft.ini</yarpConfigurationFile>
    </plugin>
    <plugin name="gzyarp::ForceTorque" filename="gz-sim-yarp-forcetorque-system">
      <yarpConfigurationFile>model://iRonCub-Mk3/iRonCub/conf/FT/gazebo_icub_left_foot_rear_ft.ini</yarpConfigurationFile>
    </plugin>
    <plugin name="gzyarp::ForceTorque" filename="gz-sim-yarp-forcetorque-system">
      <yarpConfigurationFile>model://iRonCub-Mk3/iRonCub/conf/FT/gazebo_icub_right_foot_front_ft.ini</yarpConfigurationFile>
    </plugin>
    <plugin name="gzyarp::ForceTorque" filename="gz-sim-yarp-forcetorque-system">
      <yarpConfigurationFile>model://iRonCub-Mk3/iRonCub/conf/FT/gazebo_icub_right_foot_rear_ft.ini</yarpConfigurationFile>
    </plugin>
    <plugin name="gzyarp::JetsPlugin" filename="gz-sim-yarp-jets-plugin">
      <yarpConfigurationFile>model://iRonCub-Mk3/iRonCub/conf/jets.ini</yarpConfigurationFile>
    </plugin>
    <plugin name="gzyarp::RobotInterface" filename="gz-sim-yarp-robotinterface-system">
      <yarpRobotInterfaceConfigurationFile>model://iRonCub-Mk3/iRonCub/conf/iRonCub.xml</yarpRobotInterfaceConfigurationFile>
    </plugin>
    <plugin filename="gz-sim-forcetorque-system" name="gz::sim::systems::ForceTorque"/>
    <plugin filename="gz-sim-imu-system" name="gz::sim::systems::Imu"/>
    <plugin filename="gz-sim-scene-broadcaster-system" name="gz::sim::systems::SceneBroadcaster"/>
    <plugin filename="gz-sim-sensors-system" name="gz::sim::systems::Sensors"/>
  </gazebo>
  <gazebo>
    <pose>0.000000 0.000000 0.640000 0.000000 0.000000 0.000000</pose>
  </gazebo>
  <gazebo reference="l_arm_ft_sensor">
    <sensor name="l_arm_ft" type="force_torque">
      <always_on>1</always_on>
      <update_rate>100</update_rate>
      <force_torque>
        <frame>sensor</frame>
        <measure_direction>child_to_parent</measure_direction>
      </force_torque>
      <pose>0 0 0 3.14159 2.77556e-17 -1.5708 </pose>
      <plugin name="left_arm_ft_plugin" filename="libgazebo_yarp_forcetorque.so">
        <yarpConfigurationFile>model://iRonCub-Mk3/iRonCub/conf/FT/gazebo_icub_left_arm_ft.ini</yarpConfigurationFile>
      </plugin>
    </sensor>
  </gazebo>
  <sensor name="l_arm_ft" type="force_torque">
    <parent joint="l_arm_ft_sensor"/>
    <force_torque>
      <frame>sensor</frame>
      <measure_direction>child_to_parent</measure_direction>
    </force_torque>
    <origin rpy="3.14159 2.77556e-17 -1.5708 " xyz="0 0 0"/>
  </sensor>
  <gazebo reference="l_foot_front_ft_sensor">
    <sensor name="l_foot_front_ft" type="force_torque">
      <always_on>1</always_on>
      <update_rate>100</update_rate>
      <force_torque>
        <frame>sensor</frame>
        <measure_direction>parent_to_child</measure_direction>
      </force_torque>
      <pose>4.16334e-17 2.77556e-17 0.0223 -3.08992e-16 -2.75863e-16 -2.0944 </pose>
      <plugin name="left_foot_front_ft_plugin" filename="libgazebo_yarp_forcetorque.so">
        <yarpConfigurationFile>model://iRonCub-Mk3/iRonCub/conf/FT/gazebo_icub_left_foot_front_ft.ini</yarpConfigurationFile>
      </plugin>
    </sensor>
  </gazebo>
  <sensor name="l_foot_front_ft" type="force_torque">
    <parent joint="l_foot_front_ft_sensor"/>
    <force_torque>
      <frame>sensor</frame>
      <measure_direction>parent_to_child</measure_direction>
    </force_torque>
    <origin rpy="-3.08992e-16 -2.75863e-16 -2.0944 " xyz="4.16334e-17 2.77556e-17 0.0223"/>
  </sensor>
  <gazebo reference="l_foot_rear_ft_sensor">
    <sensor name="l_foot_rear_ft" type="force_torque">
      <always_on>1</always_on>
      <update_rate>100</update_rate>
      <force_torque>
        <frame>sensor</frame>
        <measure_direction>parent_to_child</measure_direction>
      </force_torque>
      <pose>3.46945e-18 0 0.0223 2.46119e-16 5.72039e-17 -2.0944 </pose>
      <plugin name="left_foot_rear_ft_plugin" filename="libgazebo_yarp_forcetorque.so">
        <yarpConfigurationFile>model://iRonCub-Mk3/iRonCub/conf/FT/gazebo_icub_left_foot_rear_ft.ini</yarpConfigurationFile>
      </plugin>
    </sensor>
  </gazebo>
  <sensor name="l_foot_rear_ft" type="force_torque">
    <parent joint="l_foot_rear_ft_sensor"/>
    <force_torque>
      <frame>sensor</frame>
      <measure_direction>parent_to_child</measure_direction>
    </force_torque>
    <origin rpy="2.46119e-16 5.72039e-17 -2.0944 " xyz="3.46945e-18 0 0.0223"/>
  </sensor>
  <gazebo reference="l_jet_ft_sensor">
    <sensor name="l_jet_ft" type="force_torque">
      <always_on>1</always_on>
      <update_rate>100</update_rate>
      <force_torque>
        <frame>sensor</frame>
        <measure_direction>child_to_parent</measure_direction>
      </force_torque>
      <pose>-0.000289476 0.0945 -0.171052 4.01903e-16 -5.55112e-17 -1.5708 </pose>
      <plugin name="left_jet_ft_plugin" filename="libgazebo_yarp_forcetorque.so">
        <yarpConfigurationFile>model://iRonCub-Mk3/iRonCub/conf/FT/gazebo_icub_left_jet_ft.ini</yarpConfigurationFile>
      </plugin>
    </sensor>
  </gazebo>
  <sensor name="l_jet_ft" type="force_torque">
    <parent joint="l_jet_ft_sensor"/>
    <force_torque>
      <frame>sensor</frame>
      <measure_direction>child_to_parent</measure_direction>
    </force_torque>
    <origin rpy="4.01903e-16 -5.55112e-17 -1.5708 " xyz="-0.000289476 0.0945 -0.171052"/>
  </sensor>
  <gazebo reference="r_arm_ft_sensor">
    <sensor name="r_arm_ft" type="force_torque">
      <always_on>1</always_on>
      <update_rate>100</update_rate>
      <force_torque>
        <frame>sensor</frame>
        <measure_direction>child_to_parent</measure_direction>
      </force_torque>
      <pose>0 0 0 -3.14159 -2.77556e-17 1.5708 </pose>
      <plugin name="right_arm_ft_plugin" filename="libgazebo_yarp_forcetorque.so">
        <yarpConfigurationFile>model://iRonCub-Mk3/iRonCub/conf/FT/gazebo_icub_right_arm_ft.ini</yarpConfigurationFile>
      </plugin>
    </sensor>
  </gazebo>
  <sensor name="r_arm_ft" type="force_torque">
    <parent joint="r_arm_ft_sensor"/>
    <force_torque>
      <frame>sensor</frame>
      <measure_direction>child_to_parent</measure_direction>
    </force_torque>
    <origin rpy="-3.14159 -2.77556e-17 1.5708 " xyz="0 0 0"/>
  </sensor>
  <gazebo reference="r_foot_front_ft_sensor">
    <sensor name="r_foot_front_ft" type="force_torque">
      <always_on>1</always_on>
      <update_rate>100</update_rate>
      <force_torque>
        <frame>sensor</frame>
        <measure_direction>parent_to_child</measure_direction>
      </force_torque>
      <pose>2.77556e-17 -1.38778e-17 0.0223 3.29604e-14 1.89963e-14 -2.0944 </pose>
      <plugin name="right_foot_front_ft_sensor_plugin" filename="libgazebo_yarp_forcetorque.so">
        <yarpConfigurationFile>model://iRonCub-Mk3/iRonCub/conf/FT/gazebo_icub_right_foot_front_ft.ini</yarpConfigurationFile>
      </plugin>
    </sensor>
  </gazebo>
  <sensor name="r_foot_front_ft" type="force_torque">
    <parent joint="r_foot_front_ft_sensor"/>
    <force_torque>
      <frame>sensor</frame>
      <measure_direction>parent_to_child</measure_direction>
    </force_torque>
    <origin rpy="3.29604e-14 1.89963e-14 -2.0944 " xyz="2.77556e-17 -1.38778e-17 0.0223"/>
  </sensor>
  <gazebo reference="r_foot_rear_ft_sensor">
    <sensor name="r_foot_rear_ft" type="force_torque">
      <always_on>1</always_on>
      <update_rate>100</update_rate>
      <force_torque>
        <frame>sensor</frame>
        <measure_direction>parent_to_child</measure_direction>
      </force_torque>
      <pose>-1.73472e-18 1.38778e-17 0.0223 3.35155e-14 1.93294e-14 -2.0944 </pose>
      <plugin name="right_foot_rear_ft_sensor_plugin" filename="libgazebo_yarp_forcetorque.so">
        <yarpConfigurationFile>model://iRonCub-Mk3/iRonCub/conf/FT/gazebo_icub_right_foot_rear_ft.ini</yarpConfigurationFile>
      </plugin>
    </sensor>
  </gazebo>
  <sensor name="r_foot_rear_ft" type="force_torque">
    <parent joint="r_foot_rear_ft_sensor"/>
    <force_torque>
      <frame>sensor</frame>
      <measure_direction>parent_to_child</measure_direction>
    </force_torque>
    <origin rpy="3.35155e-14 1.93294e-14 -2.0944 " xyz="-1.73472e-18 1.38778e-17 0.0223"/>
  </sensor>
  <gazebo reference="r_jet_ft_sensor">
    <sensor name="r_jet_ft" type="force_torque">
      <always_on>1</always_on>
      <update_rate>100</update_rate>
      <force_torque>
        <frame>sensor</frame>
        <measure_direction>child_to_parent</measure_direction>
      </force_torque>
      <pose>-0.000289476 -0.095 -0.171052 -3.35352e-16 -0 1.5708 </pose>
      <plugin name="right_jet_ft_plugin" filename="libgazebo_yarp_forcetorque.so">
        <yarpConfigurationFile>model://iRonCub-Mk3/iRonCub/conf/FT/gazebo_icub_right_jet_ft.ini</yarpConfigurationFile>
      </plugin>
    </sensor>
  </gazebo>
  <sensor name="r_jet_ft" type="force_torque">
    <parent joint="r_jet_ft_sensor"/>
    <force_torque>
      <frame>sensor</frame>
      <measure_direction>child_to_parent</measure_direction>
    </force_torque>
    <origin rpy="-3.35352e-16 -0 1.5708 " xyz="-0.000289476 -0.095 -0.171052"/>
  </sensor>
  <gazebo reference="head">
    <sensor name="head_imu" type="imu">
      <always_on>1</always_on>
      <update_rate>100.000000</update_rate>
      <pose>0.0035 0.0055 0.101334 3.14159 1.22465e-16 -1.5708 </pose>
      <imu>
        <orientation_reference_frame>
          <localization>CUSTOM</localization>
          <custom_rpy parent_frame="world">0 0 0</custom_rpy>
        </orientation_reference_frame>
      </imu>
      <plugin name="iCub_yarp_gazebo_plugin_IMU" filename="libgazebo_yarp_imu.so">
        <yarpConfigurationFile>model://iRonCub-Mk3/iRonCub/conf/gazebo_icub_inertial.ini</yarpConfigurationFile>
      </plugin>
    </sensor>
  </gazebo>
  <sensor name="head_imu" type="accelerometer">
    <parent link="head"/>
    <origin rpy="3.14159 1.22465e-16 -1.5708 " xyz="0.0035 0.0055 0.101334"/>
  </sensor>
  <gazebo reference="chest">
    <sensor name="chest_imu" type="imu">
      <always_on>1</always_on>
      <update_rate>100.000000</update_rate>
      <pose>0.100122 0.00772565 0.081506 -1.5708 -1.56982 -1.5708 </pose>
      <imu>
        <orientation_reference_frame>
          <localization>CUSTOM</localization>
          <custom_rpy parent_frame="world">0 0 0</custom_rpy>
        </orientation_reference_frame>
      </imu>
      <plugin name="chest_plugin_IMU" filename="libgazebo_yarp_imu.so">
        <yarpConfigurationFile>model://iRonCub-Mk3/iRonCub/conf/gazebo_icub_xsens_inertial.ini</yarpConfigurationFile>
      </plugin>
    </sensor>
  </gazebo>
  <sensor name="chest_imu" type="accelerometer">
    <parent link="chest"/>
    <origin rpy="-1.5708 -1.56982 -1.5708 " xyz="0.100122 0.00772565 0.081506"/>
  </sensor>
</robot>
